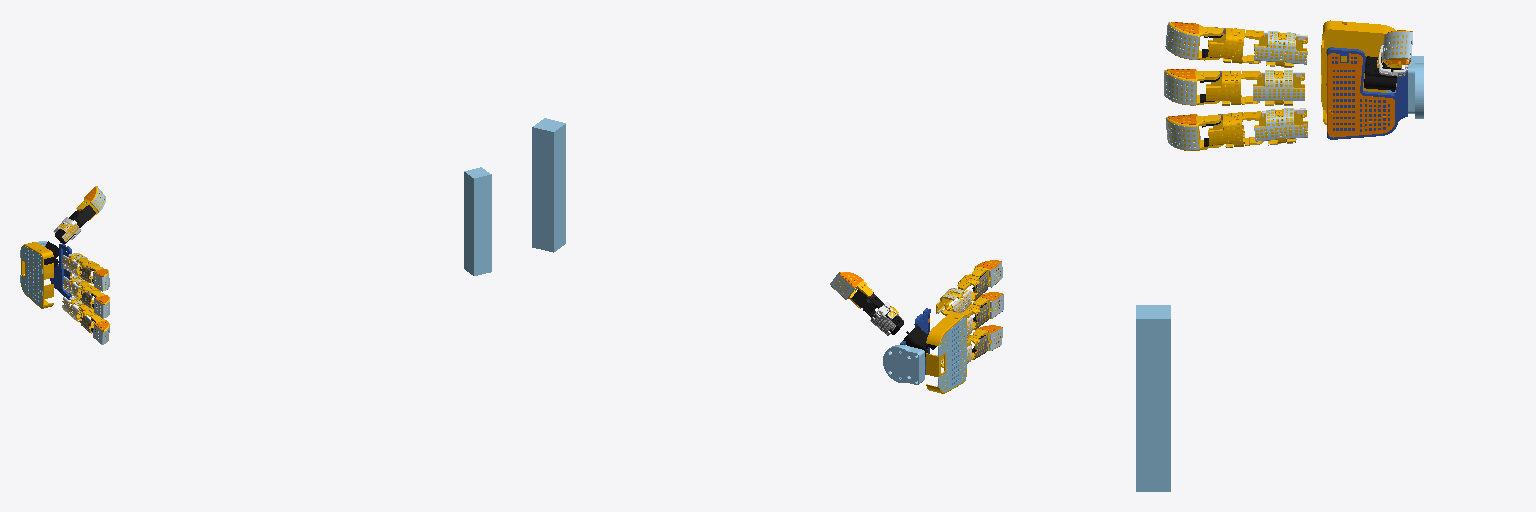
--- Facts derived from the render (not from the file) ---
Views: 3 orthographic renders of the robot side by side, from view 1: azimuth 30°, elevation 25°; view 2: azimuth 150°, elevation 25°; view 3: azimuth 270°, elevation 25°.
Robot: ur5e_2f85 — 79 links, 78 joints (22 revolute, 56 fixed); root link world; default pose: joints at zero except 1 at the middle of their limits (joint_12_0 = 0.96).
Visible links, largest first — view 1: cubic_object_link, boh, boh_bracket; view 2: cubic_object_link, boh, ur_bracket, boh_bracket; view 3: cubic_object_link, palm_fpcb, boh_bracket, palm_bracket, ur_bracket, index_proximal_front_fpcb, pinky_proximal_front_fpcb, middle_proximal_front_fpcb, middle_medial_front_fpcb, index_medial_front_fpcb, pinky_medial_front_fpcb, link_12 (+7 smaller).
Boxes of the visible links, <box> form: cubic_object_link: <box>464,167,491,275</box>; boh: <box>20,246,42,306</box>; boh_bracket: <box>21,242,53,308</box>; cubic_object_link: <box>532,118,565,252</box>; boh: <box>938,317,966,391</box>; ur_bracket: <box>883,345,924,384</box>; boh_bracket: <box>926,312,966,393</box>; cubic_object_link: <box>1136,305,1170,491</box>; palm_fpcb: <box>1327,53,1394,137</box>; boh_bracket: <box>1321,20,1401,124</box>; palm_bracket: <box>1327,47,1407,139</box>; ur_bracket: <box>1408,56,1423,118</box>; index_proximal_front_fpcb: <box>1254,31,1307,64</box>; pinky_proximal_front_fpcb: <box>1254,108,1307,141</box>; middle_proximal_front_fpcb: <box>1253,70,1304,100</box>; middle_medial_front_fpcb: <box>1206,71,1260,100</box>; index_medial_front_fpcb: <box>1208,28,1263,58</box>; pinky_medial_front_fpcb: <box>1208,111,1261,145</box>; link_12: <box>1364,56,1396,91</box>.
Bounding box of the posed robot: 0.9109 × 0.3258 × 0.2344 m (x, y, z).
52 mesh visuals loaded from 37 distinct referenced files (24 binary STL, 1 ASCII STL); not drawn: 19 (reference not matched to a file when rendering).

robot.urdf — ur5e_2f85:
<?xml version="1.0" ?>
<!-- =================================================================================== -->
<!-- |    This document was autogenerated by xacro from [local-path]/Documents/BICI_Project/BICI_SENSORS_ROS/ROS_WS/robot_arm_ws/src/coro_workstations/coro_descriptions/urdf/workstations/ur5e_workstation.urdf.xacro | -->
<!-- |    EDITING THIS FILE BY HAND IS NOT RECOMMENDED                                 | -->
<!-- =================================================================================== -->
<robot name="ur5e_2f85">
    <!-- WORLD -->
    <link name="world" />
    <!-- Table -->
    <link name="table_base">
        <visual>
            <origin rpy="0 0 0" xyz="0 0 0" />
            <geometry>
                <mesh filename="package://coro_descriptions/meshes/small_vention_table.dae" />
            </geometry>
        </visual>
        <collision>
            <origin rpy="0 0 0" xyz="0 0 0" />
            <geometry>
                <mesh filename="package://coro_descriptions/meshes/small_vention_table.dae" />
            </geometry>
        </collision>
        <inertial>
            <origin rpy="0 0 0" xyz="0 0 0" />
            <mass value="20" />
            <inertia ixx="1" ixy="0" ixz="0" iyx="0" iyy="1" iyz="0" izx="0" izy="0" izz="1" />
        </inertial>
    </link>
    <!-- Robot mount -->
    <link name="robot_mount" />
    <joint name="robot_mount" type="fixed">
        <parent link="table_base" />
        <child link="robot_mount" />
        <origin rpy="0 0 3.1416" xyz="-0.0093 0.3375 0.99275" />
        <!-- Coordinates taken from a CAD assembly -->
    </joint>
    <joint name="table_to_world" type="fixed">
        <parent link="world" />
        <child link="table_base" />
        <origin rpy="0 0 0" xyz="0 0 0" />
    </joint>
    <!--
    Base UR robot series xacro macro.

    NOTE: this is NOT a URDF. It cannot directly be loaded by consumers
    expecting a flattened '.urdf' file. See the top-level '.xacro' for that
    (but note: that .xacro must still be processed by the xacro command).

    For use in '.launch' files: use one of the 'load_urX.launch' convenience
    launch files.

    This file models the base kinematic chain of a UR robot, which then gets
    parameterised by various configuration files to convert it into a UR3(e),
    UR5(e), UR10(e) or UR16e.

    NOTE: the default kinematic parameters (ie: link lengths, frame locations,
    offets, etc) do not correspond to any particular robot. They are defaults
    only. There WILL be non-zero offsets between the Forward Kinematics results
    in TF (ie: robot_state_publisher) and the values reported by the Teach
    Pendant.

    For accurate (and robot-specific) transforms, the 'kinematics_parameters_file'
    parameter MUST point to a .yaml file containing the appropriate values for
    the targetted robot.

    If using the UniversalRobots/Universal_Robots_ROS_Driver, follow the steps
    described in the readme of that repository to extract the kinematic
    calibration from the controller and generate the required .yaml file.

    Main author of the migration to yaml configs: Ludovic Delval.

    Contributors to previous versions (in no particular order):

     - Felix Messmer
     - Kelsey Hawkins
     - Wim Meeussen
     - Shaun Edwards
     - Nadia Hammoudeh Garcia
     - Dave Hershberger
     - G. vd. Hoorn
     - Philip Long
     - Dave Coleman
     - Miguel Prada
     - Mathias Luedtke
     - Marcel Schnirring
     - Felix von Drigalski
     - Felix Exner
     - Jimmy Da Silva
     - Ajit Krisshna N L
     - Muhammad Asif Rana
  -->
    <!--
    NOTE: the macro defined in this file is NOT part of the public API of this
          package. Users CANNOT rely on this file being available, or stored in
          this location. Nor can they rely on the existence of the macro.
  -->
    <transmission name="shoulder_pan_trans">
        <type>transmission_interface/SimpleTransmission</type>
        <joint name="shoulder_pan_joint">
            <hardwareInterface>hardware_interface/PositionJointInterface</hardwareInterface>
        </joint>
        <actuator name="shoulder_pan_motor">
            <mechanicalReduction>1</mechanicalReduction>
            <hardwareInterface>hardware_interface/EffortJointInterface</hardwareInterface>
        </actuator>
    </transmission>
    <transmission name="shoulder_lift_trans">
        <type>transmission_interface/SimpleTransmission</type>
        <joint name="shoulder_lift_joint">
            <hardwareInterface>hardware_interface/PositionJointInterface</hardwareInterface>
        </joint>
        <actuator name="shoulder_lift_motor">
            <mechanicalReduction>1</mechanicalReduction>
            <hardwareInterface>hardware_interface/EffortJointInterface</hardwareInterface>
        </actuator>
    </transmission>
    <transmission name="elbow_trans">
        <type>transmission_interface/SimpleTransmission</type>
        <joint name="elbow_joint">
            <hardwareInterface>hardware_interface/PositionJointInterface</hardwareInterface>
        </joint>
        <actuator name="elbow_motor">
            <mechanicalReduction>1</mechanicalReduction>
            <hardwareInterface>hardware_interface/EffortJointInterface</hardwareInterface>
        </actuator>
    </transmission>
    <transmission name="wrist_1_trans">
        <type>transmission_interface/SimpleTransmission</type>
        <joint name="wrist_1_joint">
            <hardwareInterface>hardware_interface/PositionJointInterface</hardwareInterface>
        </joint>
        <actuator name="wrist_1_motor">
            <mechanicalReduction>1</mechanicalReduction>
            <hardwareInterface>hardware_interface/EffortJointInterface</hardwareInterface>
        </actuator>
    </transmission>
    <transmission name="wrist_2_trans">
        <type>transmission_interface/SimpleTransmission</type>
        <joint name="wrist_2_joint">
            <hardwareInterface>hardware_interface/PositionJointInterface</hardwareInterface>
        </joint>
        <actuator name="wrist_2_motor">
            <mechanicalReduction>1</mechanicalReduction>
            <hardwareInterface>hardware_interface/EffortJointInterface</hardwareInterface>
        </actuator>
    </transmission>
    <transmission name="wrist_3_trans">
        <type>transmission_interface/SimpleTransmission</type>
        <joint name="wrist_3_joint">
            <hardwareInterface>hardware_interface/PositionJointInterface</hardwareInterface>
        </joint>
        <actuator name="wrist_3_motor">
            <mechanicalReduction>1</mechanicalReduction>
            <hardwareInterface>hardware_interface/EffortJointInterface</hardwareInterface>
        </actuator>
    </transmission>
    <!-- links: main serial chain -->
    <link name="base_link" />
    <link name="base_link_inertia">
        <visual>
            <origin rpy="0 0 3.141592653589793" xyz="0 0 0" />
            <geometry>
                <mesh filename="package://ur_description/meshes/ur5e/visual/base.dae" />
            </geometry>
            <material name="LightGrey">
                <color rgba="0.7 0.7 0.7 1.0" />
            </material>
        </visual>
        <collision>
            <origin rpy="0 0 3.141592653589793" xyz="0 0 0" />
            <geometry>
                <mesh filename="package://ur_description/meshes/ur5e/collision/base.stl" />
            </geometry>
        </collision>
        <inertial>
            <mass value="4.0" />
            <origin rpy="0 0 0" xyz="0 0 0" />
            <inertia ixx="0.00443333156" ixy="0.0" ixz="0.0" iyy="0.00443333156" iyz="0.0" izz="0.0072" />
        </inertial>
    </link>
    <link name="shoulder_link">
        <visual>
            <origin rpy="0 0 3.141592653589793" xyz="0 0 0" />
            <geometry>
                <mesh filename="package://ur_description/meshes/ur5e/visual/shoulder.dae" />
            </geometry>
            <material name="LightGrey">
                <color rgba="0.7 0.7 0.7 1.0" />
            </material>
        </visual>
        <collision>
            <origin rpy="0 0 3.141592653589793" xyz="0 0 0" />
            <geometry>
                <mesh filename="package://ur_description/meshes/ur5e/collision/shoulder.stl" />
            </geometry>
        </collision>
        <inertial>
            <mass value="3.7" />
            <origin rpy="0 0 0" xyz="0 0 0" />
            <inertia ixx="0.010267495893" ixy="0.0" ixz="0.0" iyy="0.010267495893" iyz="0.0" izz="0.00666" />
        </inertial>
    </link>
    <link name="upper_arm_link">
        <visual>
            <origin rpy="1.5707963267948966 0 -1.5707963267948966" xyz="0 0 0.138" />
            <geometry>
                <mesh filename="package://ur_description/meshes/ur5e/visual/upperarm.dae" />
            </geometry>
            <material name="LightGrey">
                <color rgba="0.7 0.7 0.7 1.0" />
            </material>
        </visual>
        <collision>
            <origin rpy="1.5707963267948966 0 -1.5707963267948966" xyz="0 0 0.138" />
            <geometry>
                <mesh filename="package://ur_description/meshes/ur5e/collision/upperarm.stl" />
            </geometry>
        </collision>
        <inertial>
            <mass value="8.393" />
            <origin rpy="0 1.5707963267948966 0" xyz="-0.2125 0.0 0.138" />
            <inertia ixx="0.1338857818623325" ixy="0.0" ixz="0.0" iyy="0.1338857818623325" iyz="0.0" izz="0.0151074" />
        </inertial>
    </link>
    <link name="forearm_link">
        <visual>
            <origin rpy="1.5707963267948966 0 -1.5707963267948966" xyz="0 0 0.007" />
            <geometry>
                <mesh filename="package://ur_description/meshes/ur5e/visual/forearm.dae" />
            </geometry>
            <material name="LightGrey">
                <color rgba="0.7 0.7 0.7 1.0" />
            </material>
        </visual>
        <collision>
            <origin rpy="1.5707963267948966 0 -1.5707963267948966" xyz="0 0 0.007" />
            <geometry>
                <mesh filename="package://ur_description/meshes/ur5e/collision/forearm.stl" />
            </geometry>
        </collision>
        <inertial>
            <mass value="2.275" />
            <origin rpy="0 1.5707963267948966 0" xyz="-0.1961 0.0 0.007" />
            <inertia ixx="0.031209355099586295" ixy="0.0" ixz="0.0" iyy="0.031209355099586295" iyz="0.0" izz="0.004095" />
        </inertial>
    </link>
    <link name="wrist_1_link">
        <visual>
            <!-- TODO: Move this to a parameter -->
            <origin rpy="1.5707963267948966 0 0" xyz="0 0 -0.127" />
            <geometry>
                <mesh filename="package://ur_description/meshes/ur5e/visual/wrist1.dae" />
            </geometry>
            <material name="LightGrey">
                <color rgba="0.7 0.7 0.7 1.0" />
            </material>
        </visual>
        <collision>
            <origin rpy="1.5707963267948966 0 0" xyz="0 0 -0.127" />
            <geometry>
                <mesh filename="package://ur_description/meshes/ur5e/collision/wrist1.stl" />
            </geometry>
        </collision>
        <inertial>
            <mass value="1.219" />
            <origin rpy="0 0 0" xyz="0 0 0" />
            <inertia ixx="0.0025598989760400002" ixy="0.0" ixz="0.0" iyy="0.0025598989760400002" iyz="0.0" izz="0.0021942" />
        </inertial>
    </link>
    <link name="wrist_2_link">
        <visual>
            <origin rpy="0 0 0" xyz="0 0 -0.0997" />
            <geometry>
                <mesh filename="package://ur_description/meshes/ur5e/visual/wrist2.dae" />
            </geometry>
            <material name="LightGrey">
                <color rgba="0.7 0.7 0.7 1.0" />
            </material>
        </visual>
        <collision>
            <origin rpy="0 0 0" xyz="0 0 -0.0997" />
            <geometry>
                <mesh filename="package://ur_description/meshes/ur5e/collision/wrist2.stl" />
            </geometry>
        </collision>
        <inertial>
            <mass value="1.219" />
            <origin rpy="0 0 0" xyz="0 0 0" />
            <inertia ixx="0.0025598989760400002" ixy="0.0" ixz="0.0" iyy="0.0025598989760400002" iyz="0.0" izz="0.0021942" />
        </inertial>
    </link>
    <link name="wrist_3_link">
        <visual>
            <origin rpy="1.5707963267948966 0 0" xyz="0 0 -0.0989" />
            <geometry>
                <mesh filename="package://ur_description/meshes/ur5e/visual/wrist3.dae" />
            </geometry>
            <material name="LightGrey">
                <color rgba="0.7 0.7 0.7 1.0" />
            </material>
        </visual>
        <collision>
            <origin rpy="1.5707963267948966 0 0" xyz="0 0 -0.0989" />
            <geometry>
                <mesh filename="package://ur_description/meshes/ur5e/collision/wrist3.stl" />
            </geometry>
        </collision>
        <inertial>
            <mass value="0.1879" />
            <origin rpy="0 0 0" xyz="0.0 0.0 -0.0229" />
            <inertia ixx="9.890410052167731e-05" ixy="0.0" ixz="0.0" iyy="9.890410052167731e-05" iyz="0.0" izz="0.0001321171875" />
        </inertial>
    </link>
    <!-- joints: main serial chain -->
    <joint name="base_link-base_link_inertia" type="fixed">
        <parent link="base_link" />
        <child link="base_link_inertia" />
        <!-- 'base_link' is REP-103 aligned (so X+ forward), while the internal
           frames of the robot/controller have X+ pointing backwards.
           Use the joint between 'base_link' and 'base_link_inertia' (a dummy
           link/frame) to introduce the necessary rotation over Z (of pi rad).
      -->
        <origin rpy="0 0 3.141592653589793" xyz="0 0 0" />
    </joint>
    <joint name="shoulder_pan_joint" type="revolute">
        <parent link="base_link_inertia" />
        <child link="shoulder_link" />
        <origin rpy="0 0 0" xyz="0 0 0.1625" />
        <axis xyz="0 0 1" />
        <limit effort="150.0" lower="-6.283185307179586" upper="6.283185307179586" velocity="3.141592653589793" />
        <dynamics damping="0" friction="0" />
    </joint>
    <joint name="shoulder_lift_joint" type="revolute">
        <parent link="shoulder_link" />
        <child link="upper_arm_link" />
        <origin rpy="1.570796327 0 0" xyz="0 0 0" />
        <axis xyz="0 0 1" />
        <limit effort="150.0" lower="-6.283185307179586" upper="6.283185307179586" velocity="3.141592653589793" />
        <dynamics damping="0" friction="0" />
    </joint>
    <joint name="elbow_joint" type="revolute">
        <parent link="upper_arm_link" />
        <child link="forearm_link" />
        <origin rpy="0 0 0" xyz="-0.425 0 0" />
        <axis xyz="0 0 1" />
        <limit effort="150.0" lower="-3.141592653589793" upper="3.141592653589793" velocity="3.141592653589793" />
        <dynamics damping="0" friction="0" />
    </joint>
    <joint name="wrist_1_joint" type="revolute">
        <parent link="forearm_link" />
        <child link="wrist_1_link" />
        <origin rpy="0 0 0" xyz="-0.3922 0 0.1333" />
        <axis xyz="0 0 1" />
        <limit effort="28.0" lower="-6.283185307179586" upper="6.283185307179586" velocity="3.141592653589793" />
        <dynamics damping="0" friction="0" />
    </joint>
    <joint name="wrist_2_joint" type="revolute">
        <parent link="wrist_1_link" />
        <child link="wrist_2_link" />
        <origin rpy="1.570796327 0 0" xyz="0 -0.0997 -2.044881182297852e-11" />
        <axis xyz="0 0 1" />
        <limit effort="28.0" lower="-6.283185307179586" upper="6.283185307179586" velocity="3.141592653589793" />
        <dynamics damping="0" friction="0" />
    </joint>
    <joint name="wrist_3_joint" type="revolute">
        <parent link="wrist_2_link" />
        <child link="wrist_3_link" />
        <origin rpy="1.570796326589793 4.71238898018 3.141592653589793" xyz="0 0.0996 -2.042830148012698e-11" />
        <axis xyz="0 0 1" />
        <limit effort="28.0" lower="-6.283185307179586" upper="6.283185307179586" velocity="3.141592653589793" />
        <dynamics damping="0" friction="0" />
    </joint>
    <!-- ROS-Industrial 'base' frame: base_link to UR 'Base' Coordinates transform -->
    <link name="base" />
    <joint name="base_link-base_fixed_joint" type="fixed">
        <!-- Note the rotation over Z of pi radians: as base_link is REP-103
           aligned (ie: has X+ forward, Y+ left and Z+ up), this is needed
           to correctly align 'base' with the 'Base' coordinate system of
           the UR controller.
      -->
        <origin rpy="0 0 3.141592653589793" xyz="0 0 0" />
        <parent link="base_link" />
        <child link="base" />
    </joint>
    <!-- ROS-Industrial 'flange' frame: attachment point for EEF models -->
    <link name="flange" />
    <joint name="wrist_3-flange" type="fixed">
        <parent link="wrist_3_link" />
        <child link="flange" />
        <origin rpy="0 -1.5707963267948966 -1.5707963267948966" xyz="0 0 0" />
    </joint>
    <!-- ROS-Industrial 'tool0' frame: all-zeros tool frame -->
    <link name="tool0" />
    <joint name="flange-tool0" type="fixed">
        <!-- default toolframe: X+ left, Y+ up, Z+ front -->
        <origin rpy="1.5707963267948966 0 1.5707963267948966" xyz="0 0 0" />
        <parent link="flange" />
        <child link="tool0" />
    </joint>
    <joint name="robot_to_table" type="fixed">
        <parent link="robot_mount" />
        <child link="base_link" />
        <origin rpy="0 0 0" xyz="0 0 0" />
    </joint>
    <link name="ur_bracket">
        <visual>
            <origin rpy="0 -0 0" xyz="0 0 0" />
            <geometry>
                <mesh filename="package://coro_descriptions/meshes/ur_bracket.stl" />
            </geometry>
            <material name="ur_bracket_material">
                <color rgba="0.615686 0.811765 0.929412 1.0" />
            </material>
        </visual>
        <collision>
            <origin rpy="0 -0 0" xyz="0 0 0" />
            <geometry>
                <mesh filename="package://coro_descriptions/meshes/ur_bracket.stl" />
            </geometry>
            <material name="ur_bracket_material">
                <color rgba="0.615686 0.811765 0.929412 1.0" />
            </material>
        </collision>
        <inertial>
            <origin rpy="0 0 0" xyz="0.0271498 0.0180673 -0.00967187" />
            <mass value="0.05307" />
            <inertia ixx="1.71151e-05" ixy="0" ixz="0" iyy="1.50513e-05" iyz="1.25799e-06" izz="2.94394e-05" />
        </inertial>
    </link>
    <!-- Mount the coupling to the robot side -->
    <joint name="coupling_robot_fix" type="fixed">
        <origin rpy="0 0 0" xyz="0 0 0.01" />
        <parent link="tool0" />
        <child link="ur_bracket" />
    </joint>
    <!-- Mount the gripper to the coupling -->
    <link name="coupling_gripper_fix" />
    <joint name="coupling_to_gripper" type="fixed">
        <parent link="ur_bracket" />
        <child link="coupling_gripper_fix" />
        <origin rpy="0 0 0" xyz="0 0 0" />
    </joint>
    <!-- GRIPPER -->
    <joint name="gripper_base_joint" type="fixed">
        <origin rpy="0 0 0" xyz="0 -0.041 0.105" />
        <parent link="coupling_gripper_fix" />
        <child link="palm_link" />
    </joint>
    <link name="palm_link">
        <visual>
            <origin rpy="3.14159 -0 0" xyz="0 0.034 -0.002" />
            <geometry>
                <mesh filename="package://allegro_hand_description/meshes/g_r2.stl" />
            </geometry>
            <material name="g_r2_material">
                <color rgba="0.2 0.2 0.2 1.0" />
            </material>
        </visual>
        <collision>
            <origin rpy="3.14159 -0 0" xyz="0 0.034 -0.002" />
            <geometry>
                <mesh filename="package://allegro_hand_description/meshes/g_r2.stl" />
            </geometry>
            <material name="g_r2_material">
                <color rgba="0.2 0.2 0.2 1.0" />
            </material>
        </collision>
        <inertial>
            <origin rpy="0 0 0" xyz="-0.00043535 0.0160404 -0.0404815" />
            <mass value="0.404445" />
            <inertia ixx="0.000491371" ixy="-9.01723e-06" ixz="1.17974e-05" iyy="0.000773265" iyz="-5.50867e-06" izz="0.000547843" />
        </inertial>
    </link>
    <link name="link_0">
        <visual>
            <origin rpy="1.5708 6.16298e-33 -5.3926e-33" xyz="0 6.93889e-18 -0.0152" />
            <geometry>
                <mesh filename="package://allegro_hand_description/meshes/extended_finger_base.stl" />
            </geometry>
            <material name="extended_finger_base_material">
                <color rgba="0.647059 0.647059 0.647059 1.0" />
            </material>
        </visual>
        <collision>
            <origin rpy="1.5708 6.16298e-33 -5.3926e-33" xyz="0 6.93889e-18 -0.0152" />
            <geometry>
                <mesh filename="package://allegro_hand_description/meshes/extended_finger_base.stl" />
            </geometry>
            <material name="extended_finger_base_material">
                <color rgba="0.647059 0.647059 0.647059 1.0" />
            </material>
        </collision>
        <inertial>
            <origin rpy="0 0 0" xyz="-0.00041342 0.000666149 0.00960564" />
            <mass value="0.0136672" />
            <inertia ixx="2.13441e-06" ixy="5.86704e-10" ixz="-7.9563e-08" iyy="1.24411e-06" iyz="-6.13056e-08" izz="1.671e-06" />
        </inertial>
    </link>
    <link name="link_1">
        <visual>
            <origin rpy="4.1618e-29 1.48353 -3.14159" xyz="-0.0182688 0 -0.0317805" />
            <geometry>
                <mesh filename="package://allegro_hand_description/meshes/p2_r6.stl" />
            </geometry>
            <material name="p2_r6_material">
                <color rgba="0.129412 0.129412 0.129412 1.0" />
            </material>
        </visual>
        <collision>
            <origin rpy="4.1618e-29 1.48353 -3.14159" xyz="-0.0182688 0 -0.0317805" />
            <geometry>
                <mesh filename="package://allegro_hand_description/meshes/p2_r6.stl" />
            </geometry>
            <material name="p2_r6_material">
                <color rgba="0.129412 0.129412 0.129412 1.0" />
            </material>
        </collision>
        <inertial>
            <origin rpy="0 0 0" xyz="0.027 9.54536e-05 0.0124409" />
            <mass value="0.0418346" />
            <inertia ixx="4.00114e-06" ixy="-1.81985e-08" ixz="-4.42841e-15" iyy="1.97927e-05" iyz="1.59578e-08" izz="1.88563e-05" />
        </inertial>
    </link>
    <link name="link_2">
        <visual>
            <origin rpy="-4.37532e-31 1.48353 -2.11032e-30" xyz="0.0722688 -3.46945e-17 -0.0317805" />
            <geometry>
                <mesh filename="package://allegro_hand_description/meshes/extended_fingertop.stl" />
            </geometry>
            <material name="extended_fingertop_material">
                <color rgba="0.647059 0.647059 0.647059 1.0" />
            </material>
        </visual>
        <collision>
            <origin rpy="-4.37532e-31 1.48353 -2.11032e-30" xyz="0.0722688 -3.46945e-17 -0.0317805" />
            <geometry>
                <mesh filename="package://allegro_hand_description/meshes/extended_fingertop.stl" />
            </geometry>
            <material name="extended_fingertop_material">
                <color rgba="0.647059 0.647059 0.647059 1.0" />
            </material>
        </collision>
        <inertial>
            <origin rpy="0 0 0" xyz="-0.0294592 -0.000104104 0.0123435" />
            <mass value="0.0318021" />
            <inertia ixx="3.48619e-06" ixy="1.20808e-07" ixz="6.2918e-07" iyy="8.82437e-06" iyz="5.78644e-09" izz="7.34771e-06" />
        </inertial>
    </link>
    <link name="link_3">
        <visual>
            <origin rpy="-3.14159 -2.46519e-32 -1.5708" xyz="0.1253 -5.55112e-17 0.0118" />
            <geometry>
                <mesh filename="package://allegro_hand_description/meshes/p4_r.stl" />
            </geometry>
            <material name="p4_r_material">
                <color rgba="0.129412 0.129412 0.129412 1.0" />
            </material>
        </visual>
        <collision>
            <origin rpy="-3.14159 -2.46519e-32 -1.5708" xyz="0.1253 -5.55112e-17 0.0118" />
            <geometry>
                <mesh filename="package://allegro_hand_description/meshes/p4_r.stl" />
            </geometry>
            <material name="p4_r_material">
                <color rgba="0.129412 0.129412 0.129412 1.0" />
            </material>
        </collision>
        <inertial>
            <origin rpy="0 0 0" xyz="-0.0100051 0.000639363 0.0123057" />
            <mass value="0.0088374" />
            <inertia ixx="1.08072e-06" ixy="-4.65695e-08" ixz="-3.42321e-08" iyy="1.11236e-06" iyz="-8.85024e-10" izz="5.61586e-07" />
        </inertial>
    </link>
    <link name="ift_bracket">
        <visual>
            <origin rpy="-3.14159 -4.59709e-18 -1.08476e-31" xyz="-0.1139 -0.004 0.0135" />
            <geometry>
                <mesh filename="package://allegro_hand_description/meshes/distal_pcbbase.stl" />
            </geometry>
            <material name="distal_pcbbase_material">
                <color rgba="1 0.756863 0.054902 1.0" />
            </material>
        </visual>
        <collision>
            <origin rpy="-3.14159 -4.59709e-18 -1.08476e-31" xyz="-0.1139 -0.004 0.0135" />
            <geometry>
                <mesh filename="package://allegro_hand_description/meshes/distal_pcbbase.stl" />
            </geometry>
            <material name="distal_pcbbase_material">
                <color rgba="1 0.756863 0.054902 1.0" />
            </material>
        </collision>
        <inertial>
            <origin rpy="0 0 0" xyz="0.0170719 -0.00112911 0.0135244" />
            <mass value="0.0155109" />
            <inertia ixx="3.339e-06" ixy="-4.60426e-07" ixz="1.73449e-08" iyy="6.13257e-06" iyz="-6.39964e-10" izz="4.49513e-06" />
        </inertial>
    </link>
    <link name="index_fingertip_main_fpcb">
        <visual>
            <origin rpy="-3.14159 -1.01561e-17 -5.74754e-32" xyz="-0.12166 0.01366 6.93889e-18" />
            <geometry>
                <mesh filename="package://allegro_hand_description/meshes/distal_fpcb_1.stl" />
            </geometry>
            <material name="distal_fpcb_1_material">
                <color rgba="0.768627 0.886275 0.952941 1.0" />
            </material>
        </visual>
        <collision>
            <origin rpy="-3.14159 -1.01561e-17 -5.74754e-32" xyz="-0.12166 0.01366 6.93889e-18" />
            <geometry>
                <mesh filename="package://allegro_hand_description/meshes/distal_fpcb_1.stl" />
            </geometry>
            <material name="distal_fpcb_1_material">
                <color rgba="0.768627 0.886275 0.952941 1.0" />
            </material>
        </collision>
        <inertial>
            <origin rpy="0 0 0" xyz="0.0183062 0.0208616 2.89858e-05" />
            <mass value="0.00142203" />
            <inertia ixx="3.14637e-07" ixy="-2.70173e-08" ixz="2.90739e-11" iyy="3.18951e-07" iyz="-3.25215e-10" izz="4.09623e-07" />
        </inertial>
    </link>
    <joint name="joint_index_fingertip_main_fpcb" type="fixed">
        <origin rpy="3.95134e-15 -6.07352e-15 -3.889e-30" xyz="0.00776046 -0.01766 0.0135" />
        <parent link="ift_bracket" />
        <child link="index_fingertip_main_fpcb" />
        <axis xyz="0 0 1" />
        <limit effort="1" velocity="20" />
        <joint_properties friction="0.0" />
    </joint>
    <link name="index_fingertip_side_fpcb">
        <visual>
            <origin rpy="-1.32916e-32 6.97161e-18 -4.03248e-31" xyz="-0.153816 0.0136001 -0.0162593" />
            <geometry>
                <mesh filename="package://allegro_hand_description/meshes/distal_fpcb_2.stl" />
            </geometry>
            <material name="distal_fpcb_2_material">
                <color rgba="0.972549 0.529412 0.00392157 1.0" />
            </material>
        </visual>
        <collision>
            <origin rpy="-1.32916e-32 6.97161e-18 -4.03248e-31" xyz="-0.153816 0.0136001 -0.0162593" />
            <geometry>
                <mesh filename="package://allegro_hand_description/meshes/distal_fpcb_2.stl" />
            </geometry>
            <material name="distal_fpcb_2_material">
                <color rgba="0.972549 0.529412 0.00392157 1.0" />
            </material>
        </collision>
        <inertial>
            <origin rpy="0 0 0" xyz="-0.0175916 0.00317983 -0.0164175" />
            <mass value="0.00128609" />
            <inertia ixx="3.5341e-07" ixy="2.54188e-08" ixz="-2.1826e-09" iyy="3.67946e-07" iyz="1.2158e-09" izz="1.99436e-07" />
        </inertial>
    </link>
    <joint name="joint_index_fingertip_side_fpcb" type="fixed">
        <origin rpy="-3.14159 1.29682e-17 1.10568e-30" xyz="0.0399163 0.0096 -0.00275858" />
        <parent link="ift_bracket" />
        <child link="index_fingertip_side_fpcb" />
        <axis xyz="0 0 1" />
        <limit effort="1" velocity="20" />
        <joint_properties friction="0.0" />
    </joint>
    <joint name="joint_index_fingertip_bracket" type="fixed">
        <origin rpy="3.14159 -5.14611e-15 3.14159" xyz="-0.0135 0.004 0.0254" />
        <parent link="link_3" />
        <child link="ift_bracket" />
        <axis xyz="0 0 1" />
        <limit effort="1" velocity="20" />
        <joint_properties friction="0.0" />
    </joint>
    <joint name="joint_3_0" type="revolute">
        <origin rpy="-4.33522e-16 1.57792e-15 -7.74196e-17" xyz="-0.04615 2.77556e-17 0.0001" />
        <parent link="link_2" />
        <child link="link_3" />
        <axis xyz="0 0 1" />
        <limit effort="15" lower="0" upper="1.4" velocity="20" />
        <dynamics damping="1" friction="0.5" />
        <gazebo>
            <implicitSpringDamper>true</implicitSpringDamper>
        </gazebo>
    </joint>
    <!-- *************************************Transmission************************************** -->
    <transmission name="trans_3_0">
        <type>transmission_interface/SimpleTransmission</type>
        <joint name="joint_3_0">
            <hardwareInterface>hardware_interface/EffortJointInterface</hardwareInterface>
        </joint>
        <actuator name="motor_3_0">
            <mechanicalReduction>1</mechanicalReduction>
            <hardwareInterface>hardware_interface/EffortJointInterface</hardwareInterface>
        </actuator>
    </transmission>
    <!-- *************************************Transmission************************************** -->
    <link name="imf_bracket">
        <visual>
            <origin rpy="1.02267e-31 1.4662e-17 -1.62518e-30" xyz="-0.0755 -0.004 0.014" />
            <geometry>
                <mesh filename="package://allegro_hand_description/meshes/medial_front.stl" />
            </geometry>
            <material name="medial_front_material">
                <color rgba="1 0.756863 0.054902 1.0" />
            </material>
        </visual>
        <collision>
            <origin rpy="1.02267e-31 1.4662e-17 -1.62518e-30" xyz="-0.0755 -0.004 0.014" />
            <geometry>
                <mesh filename="package://allegro_hand_description/meshes/medial_front.stl" />
            </geometry>
            <material name="medial_front_material">
                <color rgba="1 0.756863 0.054902 1.0" />
            </material>
        </collision>
        <inertial>
            <origin rpy="0 0 0" xyz="0.00469281 0.00336791 0.0198072" />
            <mass value="0.00473232" />
            <inertia ixx="8.28869e-07" ixy="-2.96994e-07" ixz="2.53991e-07" iyy="1.55762e-06" iyz="2.23567e-07" izz="1.28629e-06" />
        </inertial>
    </link>
    <link name="index_medial_front_fpcb">
        <visual>
            <origin rpy="-1.5708 -1.5708 0" xyz="-0.0129 0.0096 -0.1092" />
            <geometry>
                <mesh filename="package://allegro_hand_description/meshes/medial_front_fpcb.stl" />
            </geometry>
            <material name="medial_front_fpcb_material">
                <color rgba="0.980392 0.713725 0.00392157 1.0" />
            </material>
        </visual>
        <collision>
            <origin rpy="-1.5708 -1.5708 0" xyz="-0.0129 0.0096 -0.1092" />
            <geometry>
                <mesh filename="package://allegro_hand_description/meshes/medial_front_fpcb.stl" />
            </geometry>
            <material name="medial_front_fpcb_material">
                <color rgba="0.980392 0.713725 0.00392157 1.0" />
            </material>
        </collision>
        <inertial>
            <origin rpy="0 0 0" xyz="-0.00409182 0.0164946 -0.0268705" />
            <mass value="0.00086951" />
            <inertia ixx="2.73483e-07" ixy="9.10299e-08" ixz="5.0825e-08" iyy="1.4757e-07" iyz="-6.87648e-08" izz="3.07195e-07" />
        </inertial>
    </link>
    <joint name="joint_index_medial_front_fpcb" type="fixed">
        <origin rpy="1.5708 -4.84955e-31 1.5708" xyz="0.0337 0.0089 0.0044" />
        <parent link="imf_bracket" />
        <child link="index_medial_front_fpcb" />
        <axis xyz="0 0 1" />
        <limit effort="1" velocity="20" />
        <joint_properties friction="0.0" />
    </joint>
    <joint name="joint_index_medial_front_bracket" type="fixed">
        <origin rpy="6.04764e-19 8.37023e-19 3.14159" xyz="-0.0215 -0.004 -0.0021" />
        <parent link="link_2" />
        <child link="imf_bracket" />
        <axis xyz="0 0 1" />
        <limit effort="1" velocity="20" />
        <joint_properties friction="0.0" />
    </joint>
    <link name="imb_bracket">
        <visual>
            <origin rpy="-3.14159 1.05207e-17 -8.74306e-31" xyz="-0.0755 -0.004 0.014" />
            <geometry>
                <mesh filename="package://allegro_hand_description/meshes/medial_back.stl" />
            </geometry>
            <material name="medial_back_material">
                <color rgba="1 0.756863 0.054902 1.0" />
            </material>
        </visual>
        <collision>
            <origin rpy="-3.14159 1.05207e-17 -8.74306e-31" xyz="-0.0755 -0.004 0.014" />
            <geometry>
                <mesh filename="package://allegro_hand_description/meshes/medial_back.stl" />
            </geometry>
            <material name="medial_back_material">
                <color rgba="1 0.756863 0.054902 1.0" />
            </material>
        </collision>
        <inertial>
            <origin rpy="0 0 0" xyz="0.0050369 0.00536951 0.0198823" />
            <mass value="0.00531302" />
            <inertia ixx="1.01036e-06" ixy="-2.70353e-07" ixz="2.64599e-07" iyy="1.7622e-06" iyz="2.24575e-07" izz="1.4134e-06" />
        </inertial>
    </link>
    <link name="index_medial_back_fpcb">
        <visual>
            <origin rpy="-1.5708 -1.5708 0" xyz="0.0145 -0.014 -0.1092" />
            <geometry>
                <mesh filename="package://allegro_hand_description/meshes/medial_back_fpcb.stl" />
            </geometry>
            <material name="medial_back_fpcb_material">
                <color rgba="0.498039 0.498039 0.498039 1.0" />
            </material>
        </visual>
        <collision>
            <origin rpy="-1.5708 -1.5708 0" xyz="0.0145 -0.014 -0.1092" />
            <geometry>
                <mesh filename="package://allegro_hand_description/meshes/medial_back_fpcb.stl" />
            </geometry>
            <material name="medial_back_fpcb_material">
                <color rgba="0.498039 0.498039 0.498039 1.0" />
            </material>
        </collision>
        <inertial>
            <origin rpy="0 0 0" xyz="0.0031423 -0.0198367 -0.0257098" />
            <mass value="0.000991462" />
            <inertia ixx="2.93113e-07" ixy="-9.38799e-08" ixz="5.77704e-08" iyy="1.96504e-07" iyz="6.0309e-08" izz="3.52075e-07" />
        </inertial>
    </link>
    <joint name="joint_index_medial_back_fpcb" type="fixed">
        <origin rpy="-1.5708 4.62281e-16 -1.5708" xyz="0.0337 0.0105 -1.73472e-16" />
        <parent link="imb_bracket" />
        <child link="index_medial_back_fpcb" />
        <axis xyz="0 0 1" />
        <limit effort="1" velocity="20" />
        <joint_properties friction="0.0" />
    </joint>
    <joint name="joint_index_medial_back_bracket" type="fixed">
        <origin rpy="3.14159 4.76628e-16 -3.14159" xyz="-0.0215 0.004 0.0259" />
        <parent link="link_2" />
        <child link="imb_bracket" />
        <axis xyz="0 0 1" />
        <limit effort="1" velocity="20" />
        <joint_properties friction="0.0" />
    </joint>
    <joint name="joint_2_0" type="revolute">
        <origin rpy="-1.93545e-14 4.22599e-15 -3.14159" xyz="0.054 2.28983e-16 7.63278e-17" />
        <parent link="link_1" />
        <child link="link_2" />
        <axis xyz="0 0 1" />
        <limit effort="15" lower="0" upper="1.5" velocity="20" />
        <dynamics damping="1" friction="0.5" />
        <gazebo>
            <implicitSpringDamper>true</implicitSpringDamper>
        </gazebo>
    </joint>
    <!-- *************************************Transmission************************************** -->
    <transmission name="trans_2_0">
        <type>transmission_interface/SimpleTransmission</type>
        <joint name="joint_2_0">
            <hardwareInterface>hardware_interface/EffortJointInterface</hardwareInterface>
        </joint>
        <actuator name="motor_2_0">
            <mechanicalReduction>1</mechanicalReduction>
            <hardwareInterface>hardware_interface/EffortJointInterface</hardwareInterface>
        </actuator>
    </transmission>
    <!-- *************************************Transmission************************************** -->
    <link name="ipb_bracket">
        <visual>
            <origin rpy="-3.14159 -1.02743e-17 -5.1406e-31" xyz="-0.0249 -0.0037 0.014" />
            <geometry>
                <mesh filename="package://allegro_hand_description/meshes/proximal_back.stl" />
            </geometry>
            <material name="proximal_back_material">
                <color rgba="1 0.756863 0.054902 1.0" />
            </material>
        </visual>
        <collision>
            <origin rpy="-3.14159 -1.02743e-17 -5.1406e-31" xyz="-0.0249 -0.0037 0.014" />
            <geometry>
                <mesh filename="package://allegro_hand_description/meshes/proximal_back.stl" />
            </geometry>
            <material name="proximal_back_material">
                <color rgba="1 0.756863 0.054902 1.0" />
            </material>
        </collision>
        <inertial>
            <origin rpy="0 0 0" xyz="0.00190421 0.00603324 0.0192417" />
            <mass value="0.00681742" />
            <inertia ixx="1.33469e-06" ixy="-1.25087e-08" ixz="-1.65721e-09" iyy="2.12223e-06" iyz="3.02232e-07" izz="1.86525e-06" />
        </inertial>
    </link>
    <link name="index_proximal_back_fpcb">
        <visual>
            <origin rpy="-1.5708 4.10881e-31 -1.43049e-17" xyz="0.0028 -0.0131 -0.0136" />
            <geometry>
                <mesh filename="package://allegro_hand_description/meshes/proximal_back_fpcb.stl" />
            </geometry>
            <material name="proximal_back_fpcb_material">
                <color rgba="0.917647 0.917647 0.917647 1.0" />
            </material>
        </visual>
        <collision>
            <origin rpy="-1.5708 4.10881e-31 -1.43049e-17" xyz="0.0028 -0.0131 -0.0136" />
            <geometry>
                <mesh filename="package://allegro_hand_description/meshes/proximal_back_fpcb.stl" />
            </geometry>
            <material name="proximal_back_fpcb_material">
                <color rgba="0.917647 0.917647 0.917647 1.0" />
            </material>
        </collision>
        <inertial>
            <origin rpy="0 0 0" xyz="0.0298338 -0.0157289 -0.000514151" />
            <mass value="0.00110296" />
            <inertia ixx="2.17583e-07" ixy="-7.11341e-10" ixz="-5.50926e-10" iyy="3.62763e-07" iyz="-5.1761e-08" izz="4.40838e-07" />
        </inertial>
    </link>
    <joint name="joint_index_proximal_back_fpcb" type="fixed">
        <origin rpy="-1.5708 -1.40936e-17 -4.33377e-16" xyz="-0.0277 0.0099 0.0009" />
        <parent link="ipb_bracket" />
        <child link="index_proximal_back_fpcb" />
        <axis xyz="0 0 1" />
        <limit effort="1" velocity="20" />
        <joint_properties friction="0.0" />
    </joint>
    <joint name="joint_index_proximal_back_bracket" type="fixed">
        <origin rpy="-3.14159 -4.95527e-15 -2.49458e-28" xyz="0.0249 -0.0037 0.0253" />
        <parent link="link_1" />
        <child link="ipb_bracket" />
        <axis xyz="0 0 1" />
        <limit effort="1" velocity="20" />
        <joint_properties friction="0.0" />
    </joint>
    <link name="ipf_bracket">
        <visual>
            <origin rpy="3.99065e-30 -1.09742e-19 -6.90794e-32" xyz="-0.0249 -0.0077 0.014" />
            <geometry>
                <mesh filename="package://allegro_hand_description/meshes/proximal_front.stl" />
            </geometry>
            <material name="proximal_front_material">
                <color rgba="1 0.756863 0.054902 1.0" />
            </material>
        </visual>
        <collision>
            <origin rpy="3.99065e-30 -1.09742e-19 -6.90794e-32" xyz="-0.0249 -0.0077 0.014" />
            <geometry>
                <mesh filename="package://allegro_hand_description/meshes/proximal_front.stl" />
            </geometry>
            <material name="proximal_front_material">
                <color rgba="1 0.756863 0.054902 1.0" />
            </material>
        </collision>
        <inertial>
            <origin rpy="0 0 0" xyz="0.00266438 0.00143857 0.0191449" />
            <mass value="0.00549452" />
            <inertia ixx="8.30997e-07" ixy="-1.44805e-08" ixz="8.87855e-09" iyy="1.59352e-06" iyz="2.4142e-07" izz="1.37197e-06" />
        </inertial>
    </link>
    <link name="index_proximal_front_fpcb">
        <visual>
            <origin rpy="-3.57712e-32 1.64408e-17 1.1487e-31" xyz="-0.0568 -0.013652 0.0096" />
            <geometry>
                <mesh filename="package://allegro_hand_description/meshes/proximal_frontfpcb.stl" />
            </geometry>
            <material name="proximal_frontfpcb_material">
                <color rgba="0.768627 0.886275 0.952941 1.0" />
            </material>
        </visual>
        <collision>
            <origin rpy="-3.57712e-32 1.64408e-17 1.1487e-31" xyz="-0.0568 -0.013652 0.0096" />
            <geometry>
                <mesh filename="package://allegro_hand_description/meshes/proximal_frontfpcb.stl" />
            </geometry>
            <material name="proximal_frontfpcb_material">
                <color rgba="0.768627 0.886275 0.952941 1.0" />
            </material>
        </collision>
        <inertial>
            <origin rpy="0 0 0" xyz="-0.0293893 -0.00228345 0.0126321" />
            <mass value="0.000871809" />
            <inertia ixx="1.32851e-07" ixy="-1.29621e-09" ixz="-1.28414e-09" iyy="3.08668e-07" iyz="3.73193e-08" izz="2.63246e-07" />
        </inertial>
    </link>
    <joint name="joint_index_proximal_front_fpcb" type="fixed">
        <origin rpy="1.69568e-14 4.09448e-18 3.98238e-32" xyz="0.0319 0.00595201 0.0044" />
        <parent link="ipf_bracket" />
        <child link="index_proximal_front_fpcb" />
        <axis xyz="0 0 1" />
        <limit effort="1" velocity="20" />
        <joint_properties friction="0.0" />
    </joint>
    <joint name="joint_index_proximal_front_bracket" type="fixed">
        <origin rpy="1.74055e-15 -7.22547e-16 -8.65583e-16" xyz="0.0249 0.0077 -0.0017" />
        <parent link="link_1" />
        <child link="ipf_bracket" />
        <axis xyz="0 0 1" />
        <limit effort="1" velocity="20" />
        <joint_properties friction="0.0" />
    </joint>
    <joint name="joint_1_0" type="revolute">
        <origin rpy="-1.5708 -1.5708 0" xyz="6.93889e-18 -0.0119 0.02545" />
        <parent link="link_0" />
        <child link="link_1" />
        <axis xyz="0 0 1" />
        <limit effort="15" lower="0" upper="1.65" velocity="20" />
        <dynamics damping="1" friction="0.5" />
        <gazebo>
            <implicitSpringDamper>true</implicitSpringDamper>
        </gazebo>
    </joint>
    <!-- *************************************Transmission************************************** -->
    <transmission name="trans_1_0">
        <type>transmission_interface/SimpleTransmission</type>
        <joint name="joint_1_0">
            <hardwareInterface>hardware_interface/EffortJointInterface</hardwareInterface>
        </joint>
        <actuator name="motor_1_0">
            <mechanicalReduction>1</mechanicalReduction>
            <hardwareInterface>hardware_interface/EffortJointInterface</hardwareInterface>
        </actuator>
    </transmission>
    <!-- *************************************Transmission************************************** -->
    <joint name="joint_0_0" type="revolute">
        <origin rpy="-0.0872665 -1.66533e-16 1.5708" xyz="-0.0435377 0.034 -0.00553922" />
        <parent link="palm_link" />
        <child link="link_0" />
        <axis xyz="0 0 1" />
        <limit effort="15" lower="-0.45" upper="0.55" velocity="20" />
        <dynamics damping="1" friction="0.5" />
        <gazebo>
            <implicitSpringDamper>true</implicitSpringDamper>
        </gazebo>
    </joint>
    <!-- *************************************Transmission************************************** -->
    <transmission name="trans_0_0">
        <type>transmission_interface/SimpleTransmission</type>
        <joint name="joint_0_0">
            <hardwareInterface>hardware_interface/EffortJointInterface</hardwareInterface>
        </joint>
        <actuator name="motor_0_0">
            <mechanicalReduction>1</mechanicalReduction>
            <hardwareInterface>hardware_interface/EffortJointInterface</hardwareInterface>
        </actuator>
    </transmission>
    <!-- *************************************Transmission************************************** -->
    <link name="link_4">
        <visual>
            <origin rpy="1.5708 -0 1.53951e-48" xyz="0 -2.52778e-34 -0.0152" />
            <geometry>
                <mesh filename="package://allegro_hand_description/meshes/extended_finger_base.stl" />
            </geometry>
            <material name="extended_finger_base_material">
                <color rgba="0.647059 0.647059 0.647059 1.0" />
            </material>
        </visual>
        <collision>
            <origin rpy="1.5708 -0 1.53951e-48" xyz="0 -2.52778e-34 -0.0152" />
            <geometry>
                <mesh filename="package://allegro_hand_description/meshes/extended_finger_base.stl" />
            </geometry>
            <material name="extended_finger_base_material">
                <color rgba="0.647059 0.647059 0.647059 1.0" />
            </material>
        </collision>
        <inertial>
            <origin rpy="0 0 0" xyz="-0.00041342 0.000666149 0.00960564" />
            <mass value="0.0136672" />
            <inertia ixx="2.13441e-06" ixy="5.86704e-10" ixz="-7.9563e-08" iyy="1.24411e-06" iyz="-6.13056e-08" izz="1.671e-06" />
        </inertial>
    </link>
    <link name="link_5">
        <visual>
            <origin rpy="5.013e-31 1.48353 -2.03181e-30" xyz="0.0182688 0 -0.0317805" />
            <geometry>
                <mesh filename="package://allegro_hand_description/meshes/p2_r6.stl" />
            </geometry>
            <material name="p2_r6_material">
                <color rgba="0.129412 0.129412 0.129412 1.0" />
            </material>
        </visual>
        <collision>
            <origin rpy="5.013e-31 1.48353 -2.03181e-30" xyz="0.0182688 0 -0.0317805" />
            <geometry>
                <mesh filename="package://allegro_hand_description/meshes/p2_r6.stl" />
            </geometry>
            <material name="p2_r6_material">
                <color rgba="0.129412 0.129412 0.129412 1.0" />
            </material>
        </collision>
        <inertial>
            <origin rpy="0 0 0" xyz="-0.027 -9.54536e-05 0.0124409" />
            <mass value="0.0418346" />
            <inertia ixx="4.44908e-06" ixy="2.0693e-08" ixz="2.54038e-06" iyy="1.97927e-05" iyz="1.25552e-08" izz="1.84084e-05" />
        </inertial>
    </link>
    <link name="link_6">
        <visual>
            <origin rpy="-4.01371e-31 1.48353 4.99346e-31" xyz="0.0722688 -3.46945e-17 -0.0317805" />
            <geometry>
                <mesh filename="package://allegro_hand_description/meshes/extended_fingertop.stl" />
            </geometry>
            <material name="extended_fingertop_material">
                <color rgba="0.647059 0.647059 0.647059 1.0" />
            </material>
        </visual>
        <collision>
            <origin rpy="-4.01371e-31 1.48353 4.99346e-31" xyz="0.0722688 -3.46945e-17 -0.0317805" />
            <geometry>
                <mesh filename="package://allegro_hand_description/meshes/extended_fingertop.stl" />
            </geometry>
            <material name="extended_fingertop_material">
                <color rgba="0.647059 0.647059 0.647059 1.0" />
            </material>
        </collision>
        <inertial>
            <origin rpy="0 0 0" xyz="-0.0294592 -0.000104104 0.0123435" />
            <mass value="0.0318021" />
            <inertia ixx="3.48619e-06" ixy="1.20808e-07" ixz="6.2918e-07" iyy="8.82437e-06" iyz="5.78644e-09" izz="7.34771e-06" />
        </inertial>
    </link>
    <link name="link_7">
        <visual>
            <origin rpy="3.14159 1.26544e-33 -1.5708" xyz="0.1253 -6.245e-17 0.0118" />
            <geometry>
                <mesh filename="package://allegro_hand_description/meshes/p4_r.stl" />
            </geometry>
            <material name="p4_r_material">
                <color rgba="0.129412 0.129412 0.129412 1.0" />
            </material>
        </visual>
        <collision>
            <origin rpy="3.14159 1.26544e-33 -1.5708" xyz="0.1253 -6.245e-17 0.0118" />
            <geometry>
                <mesh filename="package://allegro_hand_description/meshes/p4_r.stl" />
            </geometry>
            <material name="p4_r_material">
                <color rgba="0.129412 0.129412 0.129412 1.0" />
            </material>
        </collision>
        <inertial>
            <origin rpy="0 0 0" xyz="-0.0100051 0.000639363 0.0123057" />
            <mass value="0.0088374" />
            <inertia ixx="1.08072e-06" ixy="-4.65695e-08" ixz="-3.42321e-08" iyy="1.11236e-06" iyz="-8.85024e-10" izz="5.61586e-07" />
        </inertial>
    </link>
    <link name="mft_bracket">
        <visual>
            <origin rpy="-3.14159 -1.35585e-31 -9.86076e-32" xyz="-0.1139 -0.004 0.0135" />
            <geometry>
                <mesh filename="package://allegro_hand_description/meshes/distal_pcbbase.stl" />
            </geometry>
            <material name="distal_pcbbase_material">
                <color rgba="1 0.756863 0.054902 1.0" />
            </material>
        </visual>
        <collision>
            <origin rpy="-3.14159 -1.35585e-31 -9.86076e-32" xyz="-0.1139 -0.004 0.0135" />
            <geometry>
                <mesh filename="package://allegro_hand_description/meshes/distal_pcbbase.stl" />
            </geometry>
            <material name="distal_pcbbase_material">
                <color rgba="1 0.756863 0.054902 1.0" />
            </material>
        </collision>
        <inertial>
            <origin rpy="0 0 0" xyz="0.0170719 -0.00112911 0.0135244" />
            <mass value="0.0155109" />
            <inertia ixx="3.339e-06" ixy="-4.60426e-07" ixz="1.73449e-08" iyy="6.13257e-06" iyz="-6.39964e-10" izz="4.49513e-06" />
        </inertial>
    </link>
    <link name="middle_fingertip_main_fpcb">
        <visual>
            <origin rpy="3.14159 -1.84889e-32 2.52682e-31" xyz="-0.12166 0.01366 8.66006e-18" />
            <geometry>
                <mesh filename="package://allegro_hand_description/meshes/distal_fpcb_1.stl" />
            </geometry>
            <material name="distal_fpcb_1_material">
                <color rgba="0.768627 0.886275 0.952941 1.0" />
            </material>
        </visual>
        <collision>
            <origin rpy="3.14159 -1.84889e-32 2.52682e-31" xyz="-0.12166 0.01366 8.66006e-18" />
            <geometry>
                <mesh filename="package://allegro_hand_description/meshes/distal_fpcb_1.stl" />
            </geometry>
            <material name="distal_fpcb_1_material">
                <color rgba="0.768627 0.886275 0.952941 1.0" />
            </material>
        </collision>
        <inertial>
            <origin rpy="0 0 0" xyz="0.0183062 0.0208616 2.89858e-05" />
            <mass value="0.00142203" />
            <inertia ixx="3.14637e-07" ixy="-2.70173e-08" ixz="2.90739e-11" iyy="3.18951e-07" iyz="-3.25215e-10" izz="4.09623e-07" />
        </inertial>
    </link>
    <joint name="joint_middle_fingertip_main_fpcb" type="fixed">
        <origin rpy="-4.82947e-15 -7.14706e-15 2.77556e-17" xyz="0.00776046 -0.01766 0.0135" />
        <parent link="mft_bracket" />
        <child link="middle_fingertip_main_fpcb" />
        <axis xyz="0 0 1" />
        <limit effort="1" velocity="20" />
        <joint_properties friction="0.0" />
    </joint>
    <link name="middle_fingertip_side_fpcb">
        <visual>
            <origin rpy="3.23556e-32 -3.82105e-31 -6.22461e-31" xyz="-0.153816 0.0136001 -0.0162593" />
            <geometry>
                <mesh filename="package://allegro_hand_description/meshes/distal_fpcb_2.stl" />
            </geometry>
            <material name="distal_fpcb_2_material">
                <color rgba="0.972549 0.529412 0.00392157 1.0" />
            </material>
        </visual>
        <collision>
            <origin rpy="3.23556e-32 -3.82105e-31 -6.22461e-31" xyz="-0.153816 0.0136001 -0.0162593" />
            <geometry>
                <mesh filename="package://allegro_hand_description/meshes/distal_fpcb_2.stl" />
            </geometry>
            <material name="distal_fpcb_2_material">
                <color rgba="0.972549 0.529412 0.00392157 1.0" />
            </material>
        </collision>
        <inertial>
            <origin rpy="0 0 0" xyz="-0.0175916 0.00317983 -0.0164175" />
            <mass value="0.00128609" />
            <inertia ixx="3.5341e-07" ixy="2.54188e-08" ixz="-2.1826e-09" iyy="3.67946e-07" iyz="1.2158e-09" izz="1.99436e-07" />
        </inertial>
    </link>
    <joint name="joint_middle_fingertip_side_fpcb" type="fixed">
        <origin rpy="3.14159 -1.38778e-17 -2.77556e-17" xyz="0.0399163 0.0096 -0.00275858" />
        <parent link="mft_bracket" />
        <child link="middle_fingertip_side_fpcb" />
        <axis xyz="0 0 1" />
        <limit effort="1" velocity="20" />
        <joint_properties friction="0.0" />
    </joint>
    <joint name="joint_middle_fingertip_bracket" type="fixed">
        <origin rpy="3.14159 -8.32667e-16 -3.14159" xyz="-0.0135 0.004 0.0254" />
        <parent link="link_7" />
        <child link="mft_bracket" />
        <axis xyz="0 0 1" />
        <limit effort="1" velocity="20" />
        <joint_properties friction="0.0" />
    </joint>
    <joint name="joint_7_0" type="revolute">
        <origin rpy="-6.02043e-15 5.70882e-15 9.18658e-14" xyz="-0.04615 2.77556e-17 0.0001" />
        <parent link="link_6" />
        <child link="link_7" />
        <axis xyz="0 0 1" />
        <limit effort="15" lower="0" upper="1.4" velocity="20" />
        <dynamics damping="1" friction="0.5" />
        <gazebo>
            <implicitSpringDamper>true</implicitSpringDamper>
        </gazebo>
    </joint>
    <!-- *************************************Transmission************************************** -->
    <transmission name="trans_7_0">
        <type>transmission_interface/SimpleTransmission</type>
        <joint name="joint_7_0">
            <hardwareInterface>hardware_interface/EffortJointInterface</hardwareInterface>
        </joint>
        <actuator name="motor_7_0">
            <mechanicalReduction>1</mechanicalReduction>
            <hardwareInterface>hardware_interface/EffortJointInterface</hardwareInterface>
        </actuator>
    </transmission>
    <!-- *************************************Transmission************************************** -->
    <link name="mmf_bracket">
        <visual>
            <origin rpy="7.74847e-32 -5.579e-32 3.0743e-30" xyz="-0.0755 -0.004 0.014" />
            <geometry>
                <mesh filename="package://allegro_hand_description/meshes/medial_front.stl" />
            </geometry>
            <material name="medial_front_material">
                <color rgba="1 0.756863 0.054902 1.0" />
            </material>
        </visual>
        <collision>
            <origin rpy="7.74847e-32 -5.579e-32 3.0743e-30" xyz="-0.0755 -0.004 0.014" />
            <geometry>
                <mesh filename="package://allegro_hand_description/meshes/medial_front.stl" />
            </geometry>
            <material name="medial_front_material">
                <color rgba="1 0.756863 0.054902 1.0" />
            </material>
        </collision>
        <inertial>
            <origin rpy="0 0 0" xyz="0.00469281 0.00336791 0.0198072" />
            <mass value="0.00473232" />
            <inertia ixx="8.28869e-07" ixy="-2.96994e-07" ixz="2.53991e-07" iyy="1.55762e-06" iyz="2.23567e-07" izz="1.28629e-06" />
        </inertial>
    </link>
    <link name="middle_medial_front_fpcb">
        <visual>
            <origin rpy="-1.5708 -1.5708 0" xyz="-0.0129 0.0096 -0.1092" />
            <geometry>
                <mesh filename="package://allegro_hand_description/meshes/medial_front_fpcb.stl" />
            </geometry>
            <material name="medial_front_fpcb_material">
                <color rgba="0.980392 0.713725 0.00392157 1.0" />
            </material>
        </visual>
        <collision>
            <origin rpy="-1.5708 -1.5708 0" xyz="-0.0129 0.0096 -0.1092" />
            <geometry>
                <mesh filename="package://allegro_hand_description/meshes/medial_front_fpcb.stl" />
            </geometry>
            <material name="medial_front_fpcb_material">
                <color rgba="0.980392 0.713725 0.00392157 1.0" />
            </material>
        </collision>
        <inertial>
            <origin rpy="0 0 0" xyz="-0.00409182 0.0164946 -0.0268705" />
            <mass value="0.00086951" />
            <inertia ixx="2.73483e-07" ixy="9.10299e-08" ixz="5.0825e-08" iyy="1.4757e-07" iyz="-6.87648e-08" izz="3.07195e-07" />
        </inertial>
    </link>
    <joint name="joint_middle_medial_front_fpcb" type="fixed">
        <origin rpy="1.5708 1.79259e-30 1.5708" xyz="0.0337 0.0089 0.0044" />
        <parent link="mmf_bracket" />
        <child link="middle_medial_front_fpcb" />
        <axis xyz="0 0 1" />
        <limit effort="1" velocity="20" />
        <joint_properties friction="0.0" />
    </joint>
    <joint name="joint_middle_medial_front_bracket" type="fixed">
        <origin rpy="-2.91434e-16 2.19124e-17 3.14159" xyz="-0.0215 -0.004 -0.0021" />
        <parent link="link_6" />
        <child link="mmf_bracket" />
        <axis xyz="0 0 1" />
        <limit effort="1" velocity="20" />
        <joint_properties friction="0.0" />
    </joint>
    <link name="mmb_bracket">
        <visual>
            <origin rpy="3.14159 6.80319e-32 5.68486e-30" xyz="-0.0755 -0.004 0.014" />
            <geometry>
                <mesh filename="package://allegro_hand_description/meshes/medial_back.stl" />
            </geometry>
            <material name="medial_back_material">
                <color rgba="1 0.756863 0.054902 1.0" />
            </material>
        </visual>
        <collision>
            <origin rpy="3.14159 6.80319e-32 5.68486e-30" xyz="-0.0755 -0.004 0.014" />
            <geometry>
                <mesh filename="package://allegro_hand_description/meshes/medial_back.stl" />
            </geometry>
            <material name="medial_back_material">
                <color rgba="1 0.756863 0.054902 1.0" />
            </material>
        </collision>
        <inertial>
            <origin rpy="0 0 0" xyz="0.0050369 0.00536951 0.0198823" />
            <mass value="0.00531302" />
            <inertia ixx="1.01036e-06" ixy="-2.70353e-07" ixz="2.64599e-07" iyy="1.7622e-06" iyz="2.24575e-07" izz="1.4134e-06" />
        </inertial>
    </link>
    <link name="middle_medial_back_fpcb">
        <visual>
            <origin rpy="-1.5708 -1.5708 0" xyz="0.0145 -0.014 -0.1092" />
            <geometry>
                <mesh filename="package://allegro_hand_description/meshes/medial_back_fpcb.stl" />
            </geometry>
            <material name="medial_back_fpcb_material">
                <color rgba="0.498039 0.498039 0.498039 1.0" />
            </material>
        </visual>
        <collision>
            <origin rpy="-1.5708 -1.5708 0" xyz="0.0145 -0.014 -0.1092" />
            <geometry>
                <mesh filename="package://allegro_hand_description/meshes/medial_back_fpcb.stl" />
            </geometry>
            <material name="medial_back_fpcb_material">
                <color rgba="0.498039 0.498039 0.498039 1.0" />
            </material>
        </collision>
        <inertial>
            <origin rpy="0 0 0" xyz="0.0031423 -0.0198367 -0.0257098" />
            <mass value="0.000991462" />
            <inertia ixx="2.93113e-07" ixy="-9.38799e-08" ixz="5.77704e-08" iyy="1.96504e-07" iyz="6.0309e-08" izz="3.52075e-07" />
        </inertial>
    </link>
    <joint name="joint_middle_medial_back_fpcb" type="fixed">
        <origin rpy="-1.5708 2.57582e-26 -1.5708" xyz="0.0337 0.0105 1.38778e-17" />
        <parent link="mmb_bracket" />
        <child link="middle_medial_back_fpcb" />
        <axis xyz="0 0 1" />
        <limit effort="1" velocity="20" />
        <joint_properties friction="0.0" />
    </joint>
    <joint name="joint_middle_medial_back_bracket" type="fixed">
        <origin rpy="-3.14159 -1.5933e-17 3.14159" xyz="-0.0215 0.004 0.0259" />
        <parent link="link_6" />
        <child link="mmb_bracket" />
        <axis xyz="0 0 1" />
        <limit effort="1" velocity="20" />
        <joint_properties friction="0.0" />
    </joint>
    <joint name="joint_6_0" type="revolute">
        <origin rpy="2.4529e-15 -5.42863e-15 3.19463e-15" xyz="-0.054 -1.66533e-16 -7.30319e-16" />
        <parent link="link_5" />
        <child link="link_6" />
        <axis xyz="0 0 1" />
        <limit effort="15" lower="0" upper="1.5" velocity="20" />
        <dynamics damping="1" friction="0.5" />
        <gazebo>
            <implicitSpringDamper>true</implicitSpringDamper>
        </gazebo>
    </joint>
    <!-- *************************************Transmission************************************** -->
    <transmission name="trans_6_0">
        <type>transmission_interface/SimpleTransmission</type>
        <joint name="joint_6_0">
            <hardwareInterface>hardware_interface/EffortJointInterface</hardwareInterface>
        </joint>
        <actuator name="motor_6_0">
            <mechanicalReduction>1</mechanicalReduction>
            <hardwareInterface>hardware_interface/EffortJointInterface</hardwareInterface>
        </actuator>
    </transmission>
    <!-- *************************************Transmission************************************** -->
    <link name="mpb_bracket">
        <visual>
            <origin rpy="3.14159 -4.6691e-34 5.87245e-30" xyz="-0.0249 -0.0037 0.014" />
            <geometry>
                <mesh filename="package://allegro_hand_description/meshes/proximal_back.stl" />
            </geometry>
            <material name="proximal_back_material">
                <color rgba="1 0.756863 0.054902 1.0" />
            </material>
        </visual>
        <collision>
            <origin rpy="3.14159 -4.6691e-34 5.87245e-30" xyz="-0.0249 -0.0037 0.014" />
            <geometry>
                <mesh filename="package://allegro_hand_description/meshes/proximal_back.stl" />
            </geometry>
            <material name="proximal_back_material">
                <color rgba="1 0.756863 0.054902 1.0" />
            </material>
        </collision>
        <inertial>
            <origin rpy="0 0 0" xyz="0.00190421 0.00603324 0.0192417" />
            <mass value="0.00681742" />
            <inertia ixx="1.33469e-06" ixy="-1.25087e-08" ixz="-1.65721e-09" iyy="2.12223e-06" iyz="3.02232e-07" izz="1.86525e-06" />
        </inertial>
    </link>
    <link name="middle_proximal_back_fpcb">
        <visual>
            <origin rpy="-1.5708 2.34367e-30 2.18567e-32" xyz="0.0028 -0.0131 -0.0136" />
            <geometry>
                <mesh filename="package://allegro_hand_description/meshes/proximal_back_fpcb.stl" />
            </geometry>
            <material name="proximal_back_fpcb_material">
                <color rgba="0.917647 0.917647 0.917647 1.0" />
            </material>
        </visual>
        <collision>
            <origin rpy="-1.5708 2.34367e-30 2.18567e-32" xyz="0.0028 -0.0131 -0.0136" />
            <geometry>
                <mesh filename="package://allegro_hand_description/meshes/proximal_back_fpcb.stl" />
            </geometry>
            <material name="proximal_back_fpcb_material">
                <color rgba="0.917647 0.917647 0.917647 1.0" />
            </material>
        </collision>
        <inertial>
            <origin rpy="0 0 0" xyz="0.0298338 -0.0157289 -0.000514151" />
            <mass value="0.00110296" />
            <inertia ixx="2.17583e-07" ixy="-7.11341e-10" ixz="-5.50926e-10" iyy="3.62763e-07" iyz="-5.1761e-08" izz="4.40838e-07" />
        </inertial>
    </link>
    <joint name="joint_middle_proximal_back_fpcb" type="fixed">
        <origin rpy="-1.5708 1.69768e-31 -2.34367e-30" xyz="-0.0277 0.0099 0.0009" />
        <parent link="mpb_bracket" />
        <child link="middle_proximal_back_fpcb" />
        <axis xyz="0 0 1" />
        <limit effort="1" velocity="20" />
        <joint_properties friction="0.0" />
    </joint>
    <joint name="joint_middle_proximal_back_bracket" type="fixed">
        <origin rpy="-3.14159 4.05868e-15 3.14159" xyz="-0.0249 0.0037 0.0253" />
        <parent link="link_5" />
        <child link="mpb_bracket" />
        <axis xyz="0 0 1" />
        <limit effort="1" velocity="20" />
        <joint_properties friction="0.0" />
    </joint>
    <link name="mpf_bracket">
        <visual>
            <origin rpy="1.4926e-32 -3.38771e-31 -2.46519e-30" xyz="-0.0249 -0.0077 0.014" />
            <geometry>
                <mesh filename="package://allegro_hand_description/meshes/proximal_front.stl" />
            </geometry>
            <material name="proximal_front_material">
                <color rgba="1 0.756863 0.054902 1.0" />
            </material>
        </visual>
        <collision>
            <origin rpy="1.4926e-32 -3.38771e-31 -2.46519e-30" xyz="-0.0249 -0.0077 0.014" />
            <geometry>
                <mesh filename="package://allegro_hand_description/meshes/proximal_front.stl" />
            </geometry>
            <material name="proximal_front_material">
                <color rgba="1 0.756863 0.054902 1.0" />
            </material>
        </collision>
        <inertial>
            <origin rpy="0 0 0" xyz="0.00266438 0.00143857 0.0191449" />
            <mass value="0.00549452" />
            <inertia ixx="8.30997e-07" ixy="-1.44805e-08" ixz="8.87855e-09" iyy="1.59352e-06" iyz="2.4142e-07" izz="1.37197e-06" />
        </inertial>
    </link>
    <link name="middle_proximal_front_fpcb">
        <visual>
            <origin rpy="-7.42927e-32 -1.59852e-31 1.64921e-29" xyz="-0.0568 -0.013652 0.0096" />
            <geometry>
                <mesh filename="package://allegro_hand_description/meshes/proximal_frontfpcb.stl" />
            </geometry>
            <material name="proximal_frontfpcb_material">
                <color rgba="0.768627 0.886275 0.952941 1.0" />
            </material>
        </visual>
        <collision>
            <origin rpy="-7.42927e-32 -1.59852e-31 1.64921e-29" xyz="-0.0568 -0.013652 0.0096" />
            <geometry>
                <mesh filename="package://allegro_hand_description/meshes/proximal_frontfpcb.stl" />
            </geometry>
            <material name="proximal_frontfpcb_material">
                <color rgba="0.768627 0.886275 0.952941 1.0" />
            </material>
        </collision>
        <inertial>
            <origin rpy="0 0 0" xyz="-0.0293893 -0.00228345 0.0126321" />
            <mass value="0.000871809" />
            <inertia ixx="1.32851e-07" ixy="-1.29621e-09" ixz="-1.28414e-09" iyy="3.08668e-07" iyz="3.73193e-08" izz="2.63246e-07" />
        </inertial>
    </link>
    <joint name="joint_middle_proximal_front_fpcb" type="fixed">
        <origin rpy="-6.26539e-15 -5.20417e-18 5.55112e-17" xyz="0.0319 0.00595201 0.0044" />
        <parent link="mpf_bracket" />
        <child link="middle_proximal_front_fpcb" />
        <axis xyz="0 0 1" />
        <limit effort="1" velocity="20" />
        <joint_properties friction="0.0" />
    </joint>
    <joint name="joint_middle_proximal_front_bracket" type="fixed">
        <origin rpy="-1.96804e-15 3.74674e-16 3.14159" xyz="-0.0249 -0.0077 -0.0017" />
        <parent link="link_5" />
        <child link="mpf_bracket" />
        <axis xyz="0 0 1" />
        <limit effort="1" velocity="20" />
        <joint_properties friction="0.0" />
    </joint>
    <joint name="joint_5_0" type="revolute">
        <origin rpy="-1.5708 1.5708 0" xyz="-4.16334e-17 -0.0119 0.02545" />
        <parent link="link_4" />
        <child link="link_5" />
        <axis xyz="0 0 1" />
        <limit effort="15" lower="0" upper="1.65" velocity="20" />
        <dynamics damping="1" friction="0.5" />
        <gazebo>
            <implicitSpringDamper>true</implicitSpringDamper>
        </gazebo>
    </joint>
    <!-- *************************************Transmission************************************** -->
    <transmission name="trans_5_0">
        <type>transmission_interface/SimpleTransmission</type>
        <joint name="joint_5_0">
            <hardwareInterface>hardware_interface/EffortJointInterface</hardwareInterface>
        </joint>
        <actuator name="motor_5_0">
            <mechanicalReduction>1</mechanicalReduction>
            <hardwareInterface>hardware_interface/EffortJointInterface</hardwareInterface>
        </actuator>
    </transmission>
    <!-- *************************************Transmission************************************** -->
    <joint name="joint_4_0" type="revolute">
        <origin rpy="0 -0 1.5708" xyz="-2.68398e-34 0.034 -0.0033" />
        <parent link="palm_link" />
        <child link="link_4" />
        <axis xyz="0 0 1" />
        <limit effort="15" lower="-0.55" upper="0.45" velocity="20" />
        <dynamics damping="1" friction="0.5" />
        <gazebo>
            <implicitSpringDamper>true</implicitSpringDamper>
        </gazebo>
    </joint>
    <!-- *************************************Transmission************************************** -->
    <transmission name="trans_4_0">
        <type>transmission_interface/SimpleTransmission</type>
        <joint name="joint_4_0">
            <hardwareInterface>hardware_interface/EffortJointInterface</hardwareInterface>
        </joint>
        <actuator name="motor_4_0">
            <mechanicalReduction>1</mechanicalReduction>
            <hardwareInterface>hardware_interface/EffortJointInterface</hardwareInterface>
        </actuator>
    </transmission>
    <!-- *************************************Transmission************************************** -->
    <link name="link_8">
        <visual>
            <origin rpy="1.5708 -1.84889e-32 4.46816e-32" xyz="6.93889e-18 -6.93889e-18 -0.0152" />
            <geometry>
                <mesh filename="package://allegro_hand_description/meshes/extended_finger_base.stl" />
            </geometry>
            <material name="extended_finger_base_material">
                <color rgba="0.647059 0.647059 0.647059 1.0" />
            </material>
        </visual>
        <collision>
            <origin rpy="1.5708 -1.84889e-32 4.46816e-32" xyz="6.93889e-18 -6.93889e-18 -0.0152" />
            <geometry>
                <mesh filename="package://allegro_hand_description/meshes/extended_finger_base.stl" />
            </geometry>
            <material name="extended_finger_base_material">
                <color rgba="0.647059 0.647059 0.647059 1.0" />
            </material>
        </collision>
        <inertial>
            <origin rpy="0 0 0" xyz="-0.00041342 0.000666149 0.00960564" />
            <mass value="0.0136672" />
            <inertia ixx="2.13441e-06" ixy="5.86704e-10" ixz="-7.9563e-08" iyy="1.24411e-06" iyz="-6.13056e-08" izz="1.671e-06" />
        </inertial>
    </link>
    <link name="link_9">
        <visual>
            <origin rpy="1.70593e-30 1.48353 -1.17581e-30" xyz="0.0182688 6.93889e-18 -0.0317805" />
            <geometry>
                <mesh filename="package://allegro_hand_description/meshes/p2_r6.stl" />
            </geometry>
            <material name="p2_r6_material">
                <color rgba="0.129412 0.129412 0.129412 1.0" />
            </material>
        </visual>
        <collision>
            <origin rpy="1.70593e-30 1.48353 -1.17581e-30" xyz="0.0182688 6.93889e-18 -0.0317805" />
            <geometry>
                <mesh filename="package://allegro_hand_description/meshes/p2_r6.stl" />
            </geometry>
            <material name="p2_r6_material">
                <color rgba="0.129412 0.129412 0.129412 1.0" />
            </material>
        </collision>
        <inertial>
            <origin rpy="0 0 0" xyz="-0.027 -9.54536e-05 0.0124409" />
            <mass value="0.0418346" />
            <inertia ixx="4.44908e-06" ixy="2.0693e-08" ixz="2.54038e-06" iyy="1.97927e-05" iyz="1.25552e-08" izz="1.84084e-05" />
        </inertial>
    </link>
    <link name="link_10">
        <visual>
            <origin rpy="-6.3738e-31 1.48353 2.91843e-30" xyz="0.0722688 -4.16334e-17 -0.0317805" />
            <geometry>
                <mesh filename="package://allegro_hand_description/meshes/extended_fingertop.stl" />
            </geometry>
            <material name="extended_fingertop_material">
                <color rgba="0.647059 0.647059 0.647059 1.0" />
            </material>
        </visual>
        <collision>
            <origin rpy="-6.3738e-31 1.48353 2.91843e-30" xyz="0.0722688 -4.16334e-17 -0.0317805" />
            <geometry>
                <mesh filename="package://allegro_hand_description/meshes/extended_fingertop.stl" />
            </geometry>
            <material name="extended_fingertop_material">
                <color rgba="0.647059 0.647059 0.647059 1.0" />
            </material>
        </collision>
        <inertial>
            <origin rpy="0 0 0" xyz="-0.0294592 -0.000104104 0.0123435" />
            <mass value="0.0318021" />
            <inertia ixx="3.48619e-06" ixy="1.20808e-07" ixz="6.2918e-07" iyy="8.82437e-06" iyz="5.78644e-09" izz="7.34771e-06" />
        </inertial>
    </link>
    <link name="link_11">
        <visual>
            <origin rpy="3.14159 -1.68249e-30 -1.5708" xyz="0.1253 -6.245e-17 0.0118" />
            <geometry>
                <mesh filename="package://allegro_hand_description/meshes/p4_r.stl" />
            </geometry>
            <material name="p4_r_material">
                <color rgba="0.129412 0.129412 0.129412 1.0" />
            </material>
        </visual>
        <collision>
            <origin rpy="3.14159 -1.68249e-30 -1.5708" xyz="0.1253 -6.245e-17 0.0118" />
            <geometry>
                <mesh filename="package://allegro_hand_description/meshes/p4_r.stl" />
            </geometry>
            <material name="p4_r_material">
                <color rgba="0.129412 0.129412 0.129412 1.0" />
            </material>
        </collision>
        <inertial>
            <origin rpy="0 0 0" xyz="-0.0100051 0.000639363 0.0123057" />
            <mass value="0.0088374" />
            <inertia ixx="1.08072e-06" ixy="-4.65695e-08" ixz="-3.42321e-08" iyy="1.11236e-06" iyz="-8.85024e-10" izz="5.61586e-07" />
        </inertial>
    </link>
    <link name="pft_bracket">
        <visual>
            <origin rpy="-3.14159 1.28916e-17 -5.47827e-30" xyz="-0.1139 -0.004 0.0135" />
            <geometry>
                <mesh filename="package://allegro_hand_description/meshes/distal_pcbbase.stl" />
            </geometry>
            <material name="distal_pcbbase_material">
                <color rgba="1 0.756863 0.054902 1.0" />
            </material>
        </visual>
        <collision>
            <origin rpy="-3.14159 1.28916e-17 -5.47827e-30" xyz="-0.1139 -0.004 0.0135" />
            <geometry>
                <mesh filename="package://allegro_hand_description/meshes/distal_pcbbase.stl" />
            </geometry>
            <material name="distal_pcbbase_material">
                <color rgba="1 0.756863 0.054902 1.0" />
            </material>
        </collision>
        <inertial>
            <origin rpy="0 0 0" xyz="0.0170719 -0.00112911 0.0135244" />
            <mass value="0.0155109" />
            <inertia ixx="3.339e-06" ixy="-4.60426e-07" ixz="1.73449e-08" iyy="6.13257e-06" iyz="-6.39964e-10" izz="4.49513e-06" />
        </inertial>
    </link>
    <link name="pinky_fingertip_main_fpcb">
        <visual>
            <origin rpy="-3.14159 1.9938e-17 -2.07776e-29" xyz="-0.12166 0.01366 1.38778e-17" />
            <geometry>
                <mesh filename="package://allegro_hand_description/meshes/distal_fpcb_1.stl" />
            </geometry>
            <material name="distal_fpcb_1_material">
                <color rgba="0.768627 0.886275 0.952941 1.0" />
            </material>
        </visual>
        <collision>
            <origin rpy="-3.14159 1.9938e-17 -2.07776e-29" xyz="-0.12166 0.01366 1.38778e-17" />
            <geometry>
                <mesh filename="package://allegro_hand_description/meshes/distal_fpcb_1.stl" />
            </geometry>
            <material name="distal_fpcb_1_material">
                <color rgba="0.768627 0.886275 0.952941 1.0" />
            </material>
        </collision>
        <inertial>
            <origin rpy="0 0 0" xyz="0.0183062 0.0208616 2.89858e-05" />
            <mass value="0.00142203" />
            <inertia ixx="3.14637e-07" ixy="-2.70173e-08" ixz="2.90739e-11" iyy="3.18951e-07" iyz="-3.25215e-10" izz="4.09623e-07" />
        </inertial>
    </link>
    <joint name="joint_pinky_fingertip_main_fpcb" type="fixed">
        <origin rpy="-4.08652e-17 5.17584e-16 1.66533e-16" xyz="0.00776046 -0.01766 0.0135" />
        <parent link="pft_bracket" />
        <child link="pinky_fingertip_main_fpcb" />
        <axis xyz="0 0 1" />
        <limit effort="1" velocity="20" />
        <joint_properties friction="0.0" />
    </joint>
    <link name="pinky_fingertip_side_fpcb">
        <visual>
            <origin rpy="-3.60571e-31 -1.028e-17 -3.19673e-30" xyz="-0.153816 0.0136001 -0.0162593" />
            <geometry>
                <mesh filename="package://allegro_hand_description/meshes/distal_fpcb_2.stl" />
            </geometry>
            <material name="distal_fpcb_2_material">
                <color rgba="0.972549 0.529412 0.00392157 1.0" />
            </material>
        </visual>
        <collision>
            <origin rpy="-3.60571e-31 -1.028e-17 -3.19673e-30" xyz="-0.153816 0.0136001 -0.0162593" />
            <geometry>
                <mesh filename="package://allegro_hand_description/meshes/distal_fpcb_2.stl" />
            </geometry>
            <material name="distal_fpcb_2_material">
                <color rgba="0.972549 0.529412 0.00392157 1.0" />
            </material>
        </collision>
        <inertial>
            <origin rpy="0 0 0" xyz="-0.0175916 0.00317983 -0.0164175" />
            <mass value="0.00128609" />
            <inertia ixx="3.5341e-07" ixy="2.54188e-08" ixz="-2.1826e-09" iyy="3.67946e-07" iyz="1.2158e-09" izz="1.99436e-07" />
        </inertial>
    </link>
    <joint name="joint_pinky_fingertip_side_fpcb" type="fixed">
        <origin rpy="-3.14159 5.15965e-17 5.55112e-17" xyz="0.0399163 0.0096 -0.00275858" />
        <parent link="pft_bracket" />
        <child link="pinky_fingertip_side_fpcb" />
        <axis xyz="0 0 1" />
        <limit effort="1" velocity="20" />
        <joint_properties friction="0.0" />
    </joint>
    <joint name="joint_pinky_fingertip_bracket" type="fixed">
        <origin rpy="3.14159 4.4328e-16 3.14159" xyz="-0.0135 0.004 0.0254" />
        <parent link="link_11" />
        <child link="pft_bracket" />
        <axis xyz="0 0 1" />
        <limit effort="1" velocity="20" />
        <joint_properties friction="0.0" />
    </joint>
    <joint name="joint_11_0" type="revolute">
        <origin rpy="-2.08897e-16 7.34965e-16 -9.23803e-14" xyz="-0.04615 2.08167e-17 0.0001" />
        <parent link="link_10" />
        <child link="link_11" />
        <axis xyz="0 0 1" />
        <limit effort="15" lower="0" upper="1.4" velocity="20" />
        <dynamics damping="1" friction="0.5" />
        <gazebo>
            <implicitSpringDamper>true</implicitSpringDamper>
        </gazebo>
    </joint>
    <!-- *************************************Transmission************************************** -->
    <transmission name="trans_11_0">
        <type>transmission_interface/SimpleTransmission</type>
        <joint name="joint_11_0">
            <hardwareInterface>hardware_interface/EffortJointInterface</hardwareInterface>
        </joint>
        <actuator name="motor_11_0">
            <mechanicalReduction>1</mechanicalReduction>
            <hardwareInterface>hardware_interface/EffortJointInterface</hardwareInterface>
        </actuator>
    </transmission>
    <!-- *************************************Transmission************************************** -->
    <link name="pmf_bracket">
        <visual>
            <origin rpy="5.55513e-32 -1.31932e-17 -4.97361e-33" xyz="-0.0755 -0.004 0.014" />
            <geometry>
                <mesh filename="package://allegro_hand_description/meshes/medial_front.stl" />
            </geometry>
            <material name="medial_front_material">
                <color rgba="1 0.756863 0.054902 1.0" />
            </material>
        </visual>
        <collision>
            <origin rpy="5.55513e-32 -1.31932e-17 -4.97361e-33" xyz="-0.0755 -0.004 0.014" />
            <geometry>
                <mesh filename="package://allegro_hand_description/meshes/medial_front.stl" />
            </geometry>
            <material name="medial_front_material">
                <color rgba="1 0.756863 0.054902 1.0" />
            </material>
        </collision>
        <inertial>
            <origin rpy="0 0 0" xyz="0.00469281 0.00336791 0.0198072" />
            <mass value="0.00473232" />
            <inertia ixx="8.28869e-07" ixy="-2.96994e-07" ixz="2.53991e-07" iyy="1.55762e-06" iyz="2.23567e-07" izz="1.28629e-06" />
        </inertial>
    </link>
    <link name="pinky_medial_front_fpcb">
        <visual>
            <origin rpy="-1.5708 -1.5708 0" xyz="-0.0129 0.0096 -0.1092" />
            <geometry>
                <mesh filename="package://allegro_hand_description/meshes/medial_front_fpcb.stl" />
            </geometry>
            <material name="medial_front_fpcb_material">
                <color rgba="0.980392 0.713725 0.00392157 1.0" />
            </material>
        </visual>
        <collision>
            <origin rpy="-1.5708 -1.5708 0" xyz="-0.0129 0.0096 -0.1092" />
            <geometry>
                <mesh filename="package://allegro_hand_description/meshes/medial_front_fpcb.stl" />
            </geometry>
            <material name="medial_front_fpcb_material">
                <color rgba="0.980392 0.713725 0.00392157 1.0" />
            </material>
        </collision>
        <inertial>
            <origin rpy="0 0 0" xyz="-0.00409182 0.0164946 -0.0268705" />
            <mass value="0.00086951" />
            <inertia ixx="2.73483e-07" ixy="9.10299e-08" ixz="5.0825e-08" iyy="1.4757e-07" iyz="-6.87648e-08" izz="3.07195e-07" />
        </inertial>
    </link>
    <joint name="joint_pinky_medial_front_fpcb" type="fixed">
        <origin rpy="1.5708 -4.44891e-19 1.5708" xyz="0.0337 0.0089 0.0044" />
        <parent link="pmf_bracket" />
        <child link="pinky_medial_front_fpcb" />
        <axis xyz="0 0 1" />
        <limit effort="1" velocity="20" />
        <joint_properties friction="0.0" />
    </joint>
    <joint name="joint_pinky_medial_front_bracket" type="fixed">
        <origin rpy="5.55513e-32 -1.31932e-17 3.14159" xyz="-0.0215 -0.004 -0.0021" />
        <parent link="link_10" />
        <child link="pmf_bracket" />
        <axis xyz="0 0 1" />
        <limit effort="1" velocity="20" />
        <joint_properties friction="0.0" />
    </joint>
    <link name="pmb_bracket">
        <visual>
            <origin rpy="-3.14159 1.31932e-17 4.97361e-33" xyz="-0.0755 -0.004 0.014" />
            <geometry>
                <mesh filename="package://allegro_hand_description/meshes/medial_back.stl" />
            </geometry>
            <material name="medial_back_material">
                <color rgba="1 0.756863 0.054902 1.0" />
            </material>
        </visual>
        <collision>
            <origin rpy="-3.14159 1.31932e-17 4.97361e-33" xyz="-0.0755 -0.004 0.014" />
            <geometry>
                <mesh filename="package://allegro_hand_description/meshes/medial_back.stl" />
            </geometry>
            <material name="medial_back_material">
                <color rgba="1 0.756863 0.054902 1.0" />
            </material>
        </collision>
        <inertial>
            <origin rpy="0 0 0" xyz="0.0050369 0.00536951 0.0198823" />
            <mass value="0.00531302" />
            <inertia ixx="1.01036e-06" ixy="-2.70353e-07" ixz="2.64599e-07" iyy="1.7622e-06" iyz="2.24575e-07" izz="1.4134e-06" />
        </inertial>
    </link>
    <link name="pinky_medial_back_fpcb">
        <visual>
            <origin rpy="-1.5708 -1.5708 0" xyz="0.0145 -0.014 -0.1092" />
            <geometry>
                <mesh filename="package://allegro_hand_description/meshes/medial_back_fpcb.stl" />
            </geometry>
            <material name="medial_back_fpcb_material">
                <color rgba="0.498039 0.498039 0.498039 1.0" />
            </material>
        </visual>
        <collision>
            <origin rpy="-1.5708 -1.5708 0" xyz="0.0145 -0.014 -0.1092" />
            <geometry>
                <mesh filename="package://allegro_hand_description/meshes/medial_back_fpcb.stl" />
            </geometry>
            <material name="medial_back_fpcb_material">
                <color rgba="0.498039 0.498039 0.498039 1.0" />
            </material>
        </collision>
        <inertial>
            <origin rpy="0 0 0" xyz="0.0031423 -0.0198367 -0.0257098" />
            <mass value="0.000991462" />
            <inertia ixx="2.93113e-07" ixy="-9.38799e-08" ixz="5.77704e-08" iyy="1.96504e-07" iyz="6.0309e-08" izz="3.52075e-07" />
        </inertial>
    </link>
    <joint name="joint_pinky_medial_back_fpcb" type="fixed">
        <origin rpy="-1.5708 4.44891e-19 -1.5708" xyz="0.0337 0.0105 -4.51028e-17" />
        <parent link="pmb_bracket" />
        <child link="pinky_medial_back_fpcb" />
        <axis xyz="0 0 1" />
        <limit effort="1" velocity="20" />
        <joint_properties friction="0.0" />
    </joint>
    <joint name="joint_pinky_medial_back_bracket" type="fixed">
        <origin rpy="-3.14159 -1.31932e-17 3.14159" xyz="-0.0215 0.004 0.0259" />
        <parent link="link_10" />
        <child link="pmb_bracket" />
        <axis xyz="0 0 1" />
        <limit effort="1" velocity="20" />
        <joint_properties friction="0.0" />
    </joint>
    <joint name="joint_10_0" type="revolute">
        <origin rpy="7.38677e-17 -5.80172e-16 -7.55426e-16" xyz="-0.054 1.38778e-17 -1.249e-16" />
        <parent link="link_9" />
        <child link="link_10" />
        <axis xyz="0 0 1" />
        <limit effort="15" lower="0" upper="1.5" velocity="20" />
        <dynamics damping="1" friction="0.5" />
        <gazebo>
            <implicitSpringDamper>true</implicitSpringDamper>
        </gazebo>
    </joint>
    <!-- *************************************Transmission************************************** -->
    <transmission name="trans_10_0">
        <type>transmission_interface/SimpleTransmission</type>
        <joint name="joint_10_0">
            <hardwareInterface>hardware_interface/EffortJointInterface</hardwareInterface>
        </joint>
        <actuator name="motor_10_0">
            <mechanicalReduction>1</mechanicalReduction>
            <hardwareInterface>hardware_interface/EffortJointInterface</hardwareInterface>
        </actuator>
    </transmission>
    <!-- *************************************Transmission************************************** -->
    <link name="ppb_bracket">
        <visual>
            <origin rpy="-3.14159 -1.11271e-19 2.71125e-32" xyz="-0.0249 -0.0037 0.014" />
            <geometry>
                <mesh filename="package://allegro_hand_description/meshes/proximal_back.stl" />
            </geometry>
            <material name="proximal_back_material">
                <color rgba="1 0.756863 0.054902 1.0" />
            </material>
        </visual>
        <collision>
            <origin rpy="-3.14159 -1.11271e-19 2.71125e-32" xyz="-0.0249 -0.0037 0.014" />
            <geometry>
                <mesh filename="package://allegro_hand_description/meshes/proximal_back.stl" />
            </geometry>
            <material name="proximal_back_material">
                <color rgba="1 0.756863 0.054902 1.0" />
            </material>
        </collision>
        <inertial>
            <origin rpy="0 0 0" xyz="0.00190421 0.00603324 0.0192417" />
            <mass value="0.00681742" />
            <inertia ixx="1.33469e-06" ixy="-1.25087e-08" ixz="-1.65721e-09" iyy="2.12223e-06" iyz="3.02232e-07" izz="1.86525e-06" />
        </inertial>
    </link>
    <link name="pinky_proximal_back_fpcb">
        <visual>
            <origin rpy="-1.5708 2.2395e-32 5.32313e-18" xyz="0.0028 -0.0131 -0.0136" />
            <geometry>
                <mesh filename="package://allegro_hand_description/meshes/proximal_back_fpcb.stl" />
            </geometry>
            <material name="proximal_back_fpcb_material">
                <color rgba="0.917647 0.917647 0.917647 1.0" />
            </material>
        </visual>
        <collision>
            <origin rpy="-1.5708 2.2395e-32 5.32313e-18" xyz="0.0028 -0.0131 -0.0136" />
            <geometry>
                <mesh filename="package://allegro_hand_description/meshes/proximal_back_fpcb.stl" />
            </geometry>
            <material name="proximal_back_fpcb_material">
                <color rgba="0.917647 0.917647 0.917647 1.0" />
            </material>
        </collision>
        <inertial>
            <origin rpy="0 0 0" xyz="0.0298338 -0.0157289 -0.000514151" />
            <mass value="0.00110296" />
            <inertia ixx="2.17583e-07" ixy="-7.11341e-10" ixz="-5.50926e-10" iyy="3.62763e-07" iyz="-5.1761e-08" izz="4.40838e-07" />
        </inertial>
    </link>
    <joint name="joint_pinky_proximal_back_fpcb" type="fixed">
        <origin rpy="-1.5708 -8.3852e-18 -7.27119e-30" xyz="-0.0277 0.0099 0.0009" />
        <parent link="ppb_bracket" />
        <child link="pinky_proximal_back_fpcb" />
        <axis xyz="0 0 1" />
        <limit effort="1" velocity="20" />
        <joint_properties friction="0.0" />
    </joint>
    <joint name="joint_pinky_proximal_back_bracket" type="fixed">
        <origin rpy="-3.14159 5.61195e-15 3.14159" xyz="-0.0249 0.0037 0.0253" />
        <parent link="link_9" />
        <child link="ppb_bracket" />
        <axis xyz="0 0 1" />
        <limit effort="1" velocity="20" />
        <joint_properties friction="0.0" />
    </joint>
    <link name="ppf_bracket">
        <visual>
            <origin rpy="-4.46045e-31 1.1948e-18 7.49935e-32" xyz="-0.0249 -0.0077 0.014" />
            <geometry>
                <mesh filename="package://allegro_hand_description/meshes/proximal_front.stl" />
            </geometry>
            <material name="proximal_front_material">
                <color rgba="1 0.756863 0.054902 1.0" />
            </material>
        </visual>
        <collision>
            <origin rpy="-4.46045e-31 1.1948e-18 7.49935e-32" xyz="-0.0249 -0.0077 0.014" />
            <geometry>
                <mesh filename="package://allegro_hand_description/meshes/proximal_front.stl" />
            </geometry>
            <material name="proximal_front_material">
                <color rgba="1 0.756863 0.054902 1.0" />
            </material>
        </collision>
        <inertial>
            <origin rpy="0 0 0" xyz="0.00266438 0.00143857 0.0191449" />
            <mass value="0.00549452" />
            <inertia ixx="8.30997e-07" ixy="-1.44805e-08" ixz="8.87855e-09" iyy="1.59352e-06" iyz="2.4142e-07" izz="1.37197e-06" />
        </inertial>
    </link>
    <link name="pinky_proximal_front_fpcb">
        <visual>
            <origin rpy="1.31965e-30 -3.67426e-19 -1.38914e-31" xyz="-0.0568 -0.013652 0.0096" />
            <geometry>
                <mesh filename="package://allegro_hand_description/meshes/proximal_frontfpcb.stl" />
            </geometry>
            <material name="proximal_frontfpcb_material">
                <color rgba="0.768627 0.886275 0.952941 1.0" />
            </material>
        </visual>
        <collision>
            <origin rpy="1.31965e-30 -3.67426e-19 -1.38914e-31" xyz="-0.0568 -0.013652 0.0096" />
            <geometry>
                <mesh filename="package://allegro_hand_description/meshes/proximal_frontfpcb.stl" />
            </geometry>
            <material name="proximal_frontfpcb_material">
                <color rgba="0.768627 0.886275 0.952941 1.0" />
            </material>
        </collision>
        <inertial>
            <origin rpy="0 0 0" xyz="-0.0293893 -0.00228345 0.0126321" />
            <mass value="0.000871809" />
            <inertia ixx="1.32851e-07" ixy="-1.29621e-09" ixz="-1.28414e-09" iyy="3.08668e-07" iyz="3.73193e-08" izz="2.63246e-07" />
        </inertial>
    </link>
    <joint name="joint_pinky_proximal_front_fpcb" type="fixed">
        <origin rpy="-5.00673e-15 6.88757e-19 -5.55112e-17" xyz="0.0319 0.00595201 0.0044" />
        <parent link="ppf_bracket" />
        <child link="pinky_proximal_front_fpcb" />
        <axis xyz="0 0 1" />
        <limit effort="1" velocity="20" />
        <joint_properties friction="0.0" />
    </joint>
    <joint name="joint_pinky_proximal_front_bracket" type="fixed">
        <origin rpy="-1.96935e-15 3.88558e-16 3.14159" xyz="-0.0249 -0.0077 -0.0017" />
        <parent link="link_9" />
        <child link="ppf_bracket" />
        <axis xyz="0 0 1" />
        <limit effort="1" velocity="20" />
        <joint_properties friction="0.0" />
    </joint>
    <joint name="joint_9_0" type="revolute">
        <origin rpy="-1.5708 1.5708 0" xyz="-1.38778e-17 -0.0119 0.02545" />
        <parent link="link_8" />
        <child link="link_9" />
        <axis xyz="0 0 1" />
        <limit effort="15" lower="0" upper="1.65" velocity="20" />
        <dynamics damping="1" friction="0.5" />
        <gazebo>
            <implicitSpringDamper>true</implicitSpringDamper>
        </gazebo>
    </joint>
    <!-- *************************************Transmission************************************** -->
    <transmission name="trans_9_0">
        <type>transmission_interface/SimpleTransmission</type>
        <joint name="joint_9_0">
            <hardwareInterface>hardware_interface/EffortJointInterface</hardwareInterface>
        </joint>
        <actuator name="motor_9_0">
            <mechanicalReduction>1</mechanicalReduction>
            <hardwareInterface>hardware_interface/EffortJointInterface</hardwareInterface>
        </actuator>
    </transmission>
    <!-- *************************************Transmission************************************** -->
    <joint name="joint_8_0" type="revolute">
        <origin rpy="0.0872665 4.16334e-17 1.5708" xyz="0.0435377 0.034 -0.00553922" />
        <parent link="palm_link" />
        <child link="link_8" />
        <axis xyz="0 0 1" />
        <limit effort="15" lower="-0.45" upper="0.55" velocity="20" />
        <dynamics damping="1" friction="0.5" />
        <gazebo>
            <implicitSpringDamper>true</implicitSpringDamper>
        </gazebo>
    </joint>
    <!-- *************************************Transmission************************************** -->
    <transmission name="trans_8_0">
        <type>transmission_interface/SimpleTransmission</type>
        <joint name="joint_8_0">
            <hardwareInterface>hardware_interface/EffortJointInterface</hardwareInterface>
        </joint>
        <actuator name="motor_8_0">
            <mechanicalReduction>1</mechanicalReduction>
            <hardwareInterface>hardware_interface/EffortJointInterface</hardwareInterface>
        </actuator>
    </transmission>
    <!-- *************************************Transmission************************************** -->
    <link name="link_12">
        <visual>
            <origin rpy="-2.48535e-33 -0.0872665 -2.25407e-32" xyz="0.0232805 -0.0182 -0.0808312" />
            <geometry>
                <mesh filename="package://allegro_hand_description/meshes/f1_r.stl" />
            </geometry>
            <material name="f1_r_material">
                <color rgba="0.129412 0.129412 0.129412 1.0" />
            </material>
        </visual>
        <collision>
            <origin rpy="-2.48535e-33 -0.0872665 -2.25407e-32" xyz="0.0232805 -0.0182 -0.0808312" />
            <geometry>
                <mesh filename="package://allegro_hand_description/meshes/f1_r.stl" />
            </geometry>
            <material name="f1_r_material">
                <color rgba="0.129412 0.129412 0.129412 1.0" />
            </material>
        </collision>
        <inertial>
            <origin rpy="0 0 0" xyz="-0.0151161 -0.00905831 -0.0192298" />
            <mass value="0.0660275" />
            <inertia ixx="1.44344e-05" ixy="1.24597e-06" ixz="3.47822e-08" iyy="1.76386e-05" iyz="6.49531e-07" izz="1.41981e-05" />
        </inertial>
    </link>
    <link name="link_13">
        <visual>
            <origin rpy="1.5708 2.06898e-17 1.5708" xyz="-3.46945e-18 0 -0.0152" />
            <geometry>
                <mesh filename="package://allegro_hand_description/meshes/extended_finger_base.stl" />
            </geometry>
            <material name="extended_finger_base_material">
                <color rgba="0.647059 0.647059 0.647059 1.0" />
            </material>
        </visual>
        <collision>
            <origin rpy="1.5708 2.06898e-17 1.5708" xyz="-3.46945e-18 0 -0.0152" />
            <geometry>
                <mesh filename="package://allegro_hand_description/meshes/extended_finger_base.stl" />
            </geometry>
            <material name="extended_finger_base_material">
                <color rgba="0.647059 0.647059 0.647059 1.0" />
            </material>
        </collision>
        <inertial>
            <origin rpy="0 0 0" xyz="-0.000666149 -0.00041342 0.00960564" />
            <mass value="0.0136672" />
            <inertia ixx="1.671e-06" ixy="6.13056e-08" ixz="7.9563e-08" iyy="1.24411e-06" iyz="5.86704e-10" izz="2.13441e-06" />
        </inertial>
    </link>
    <link name="link_14">
        <visual>
            <origin rpy="-1.5708 -6.24879e-32 0.0872665" xyz="0.0787805 -0.0716312 0.0251" />
            <geometry>
                <mesh filename="package://allegro_hand_description/meshes/f3_r.stl" />
            </geometry>
            <material name="f3_r_material">
                <color rgba="0.129412 0.129412 0.129412 1.0" />
            </material>
        </visual>
        <collision>
            <origin rpy="-1.5708 -6.24879e-32 0.0872665" xyz="0.0787805 -0.0716312 0.0251" />
            <geometry>
                <mesh filename="package://allegro_hand_description/meshes/f3_r.stl" />
            </geometry>
            <material name="f3_r_material">
                <color rgba="0.129412 0.129412 0.129412 1.0" />
            </material>
        </collision>
        <inertial>
            <origin rpy="0 0 0" xyz="-0.0169218 0.00050045 0.012098" />
            <mass value="0.0307701" />
            <inertia ixx="3.26297e-06" ixy="-7.80105e-07" ixz="4.19183e-07" iyy="9.45316e-06" iyz="7.40454e-08" izz="8.27249e-06" />
        </inertial>
    </link>
    <link name="link_15">
        <visual>
            <origin rpy="-1.5708 -4.16204e-32 0.0872665" xyz="0.13018 -0.0716312 0.0252" />
            <geometry>
                <mesh filename="package://allegro_hand_description/meshes/f4_r.stl" />
            </geometry>
            <material name="f4_r_material">
                <color rgba="0.2 0.2 0.2 1.0" />
            </material>
        </visual>
        <collision>
            <origin rpy="-1.5708 -4.16204e-32 0.0872665" xyz="0.13018 -0.0716312 0.0252" />
            <geometry>
                <mesh filename="package://allegro_hand_description/meshes/f4_r.stl" />
            </geometry>
            <material name="f4_r_material">
                <color rgba="0.2 0.2 0.2 1.0" />
            </material>
        </collision>
        <inertial>
            <origin rpy="0 0 0" xyz="-0.0146717 0.000106021 0.012196" />
            <mass value="0.0326938" />
            <inertia ixx="2.85763e-06" ixy="-2.76566e-07" ixz="3.76274e-07" iyy="6.11217e-06" iyz="5.74019e-08" izz="5.36876e-06" />
        </inertial>
    </link>
    <link name="tft_bracket">
        <visual>
            <origin rpy="-3.14159 -8.50715e-32 5.33917e-18" xyz="-0.1139 -0.004 0.0135" />
            <geometry>
                <mesh filename="package://allegro_hand_description/meshes/distal_pcbbase.stl" />
            </geometry>
            <material name="distal_pcbbase_material">
                <color rgba="1 0.756863 0.054902 1.0" />
            </material>
        </visual>
        <collision>
            <origin rpy="-3.14159 -8.50715e-32 5.33917e-18" xyz="-0.1139 -0.004 0.0135" />
            <geometry>
                <mesh filename="package://allegro_hand_description/meshes/distal_pcbbase.stl" />
            </geometry>
            <material name="distal_pcbbase_material">
                <color rgba="1 0.756863 0.054902 1.0" />
            </material>
        </collision>
        <inertial>
            <origin rpy="0 0 0" xyz="0.0170719 -0.00112911 0.0135244" />
            <mass value="0.0155109" />
            <inertia ixx="3.339e-06" ixy="-4.60426e-07" ixz="1.73449e-08" iyy="6.13257e-06" iyz="-6.39964e-10" izz="4.49513e-06" />
        </inertial>
    </link>
    <link name="thumb_fingertip_main_fpcb">
        <visual>
            <origin rpy="-3.14159 1.09657e-31 8.05637e-18" xyz="-0.12166 0.01366 6.93889e-18" />
            <geometry>
                <mesh filename="package://allegro_hand_description/meshes/distal_fpcb_1.stl" />
            </geometry>
            <material name="distal_fpcb_1_material">
                <color rgba="0.768627 0.886275 0.952941 1.0" />
            </material>
        </visual>
        <collision>
            <origin rpy="-3.14159 1.09657e-31 8.05637e-18" xyz="-0.12166 0.01366 6.93889e-18" />
            <geometry>
                <mesh filename="package://allegro_hand_description/meshes/distal_fpcb_1.stl" />
            </geometry>
            <material name="distal_fpcb_1_material">
                <color rgba="0.768627 0.886275 0.952941 1.0" />
            </material>
        </collision>
        <inertial>
            <origin rpy="0 0 0" xyz="0.0183062 0.0208616 2.89858e-05" />
            <mass value="0.00142203" />
            <inertia ixx="3.14637e-07" ixy="-2.70173e-08" ixz="2.90739e-11" iyy="3.18951e-07" iyz="-3.25215e-10" izz="4.09623e-07" />
        </inertial>
    </link>
    <joint name="joint_thumb_fingertip_main_fpcb" type="fixed">
        <origin rpy="8.63584e-16 -5.01319e-16 5.12794e-18" xyz="0.00776046 -0.01766 0.0135" />
        <parent link="tft_bracket" />
        <child link="thumb_fingertip_main_fpcb" />
        <axis xyz="0 0 1" />
        <limit effort="1" velocity="20" />
        <joint_properties friction="0.0" />
    </joint>
    <link name="thumb_fingertip_side_fpcb">
        <visual>
            <origin rpy="4.39229e-31 9.58935e-32 3.22237e-18" xyz="-0.153816 0.0136001 -0.0162593" />
            <geometry>
                <mesh filename="package://allegro_hand_description/meshes/distal_fpcb_2.stl" />
            </geometry>
            <material name="distal_fpcb_2_material">
                <color rgba="0.972549 0.529412 0.00392157 1.0" />
            </material>
        </visual>
        <collision>
            <origin rpy="4.39229e-31 9.58935e-32 3.22237e-18" xyz="-0.153816 0.0136001 -0.0162593" />
            <geometry>
                <mesh filename="package://allegro_hand_description/meshes/distal_fpcb_2.stl" />
            </geometry>
            <material name="distal_fpcb_2_material">
                <color rgba="0.972549 0.529412 0.00392157 1.0" />
            </material>
        </collision>
        <inertial>
            <origin rpy="0 0 0" xyz="-0.0175916 0.00317983 -0.0164175" />
            <mass value="0.00128609" />
            <inertia ixx="3.5341e-07" ixy="2.54188e-08" ixz="-2.1826e-09" iyy="3.67946e-07" iyz="1.2158e-09" izz="1.99436e-07" />
        </inertial>
    </link>
    <joint name="joint_thumb_fingertip_side_fpcb" type="fixed">
        <origin rpy="-3.14159 -9.5307e-16 5.18075e-18" xyz="0.0399163 0.0096 -0.00275858" />
        <parent link="tft_bracket" />
        <child link="thumb_fingertip_side_fpcb" />
        <axis xyz="0 0 1" />
        <limit effort="1" velocity="20" />
        <joint_properties friction="0.0" />
    </joint>
    <joint name="joint_thumb_fingertip_bracket" type="fixed">
        <origin rpy="3.14159 5.80134e-16 -3.14159" xyz="-0.0291 0.0037 0.0253" />
        <parent link="link_15" />
        <child link="tft_bracket" />
        <axis xyz="0 0 1" />
        <limit effort="1" velocity="20" />
        <joint_properties friction="0.0" />
    </joint>
    <joint name="joint_15_0" type="revolute">
        <origin rpy="-4.53557e-16 3.39461e-16 2.07948e-13" xyz="-0.0514 -9.00668e-15 -0.0001" />
        <parent link="link_14" />
        <child link="link_15" />
        <axis xyz="0 0 1" />
        <limit effort="15" lower="0" upper="1.7" velocity="20" />
        <dynamics damping="1" friction="0.5" />
        <gazebo>
            <implicitSpringDamper>true</implicitSpringDamper>
        </gazebo>
    </joint>
    <!-- *************************************Transmission************************************** -->
    <transmission name="trans_15_0">
        <type>transmission_interface/SimpleTransmission</type>
        <joint name="joint_15_0">
            <hardwareInterface>hardware_interface/EffortJointInterface</hardwareInterface>
        </joint>
        <actuator name="motor_15_0">
            <mechanicalReduction>1</mechanicalReduction>
            <hardwareInterface>hardware_interface/EffortJointInterface</hardwareInterface>
        </actuator>
    </transmission>
    <!-- *************************************Transmission************************************** -->
    <link name="tmb_bracket">
        <visual>
            <origin rpy="1.5708 2.25088e-31 -7.6622e-21" xyz="0.004 0.0329 0.014" />
            <geometry>
                <mesh filename="package://allegro_hand_description/meshes/thumb_medial_back_bracket.stl" />
            </geometry>
            <material name="thumb_medial_back_bracket_material">
                <color rgba="0.917647 0.917647 0.917647 1.0" />
            </material>
        </visual>
        <collision>
            <origin rpy="1.5708 2.25088e-31 -7.6622e-21" xyz="0.004 0.0329 0.014" />
            <geometry>
                <mesh filename="package://allegro_hand_description/meshes/thumb_medial_back_bracket.stl" />
            </geometry>
            <material name="thumb_medial_back_bracket_material">
                <color rgba="0.917647 0.917647 0.917647 1.0" />
            </material>
        </collision>
        <inertial>
            <origin rpy="0 0 0" xyz="-0.00600734 0.00588203 0.0181482" />
            <mass value="0.00473763" />
            <inertia ixx="1.11799e-06" ixy="-2.9649e-08" ixz="1.65587e-07" iyy="9.60308e-07" iyz="-6.32913e-08" izz="7.92445e-07" />
        </inertial>
    </link>
    <link name="thumb_medial_back_fpcb">
        <visual>
            <origin rpy="3.14159 -5.47552e-15 -1.15148e-31" xyz="0.0148 -0.014 0.0052" />
            <geometry>
                <mesh filename="package://allegro_hand_description/meshes/part_5.stl" />
            </geometry>
            <material name="part_5_material">
                <color rgba="0.498039 0.498039 0.498039 1.0" />
            </material>
        </visual>
        <collision>
            <origin rpy="3.14159 -5.47552e-15 -1.15148e-31" xyz="0.0148 -0.014 0.0052" />
            <geometry>
                <mesh filename="package://allegro_hand_description/meshes/part_5.stl" />
            </geometry>
            <material name="part_5_material">
                <color rgba="0.498039 0.498039 0.498039 1.0" />
            </material>
        </collision>
        <inertial>
            <origin rpy="0 0 0" xyz="0.00190074 -0.0175205 -0.0182577" />
            <mass value="0.000612423" />
            <inertia ixx="1.31741e-07" ixy="2.80463e-08" ixz="-2.97582e-10" iyy="9.0628e-08" iyz="-2.06208e-08" izz="1.18557e-07" />
        </inertial>
    </link>
    <joint name="joint_thumb_medial_back_fpcb" type="fixed">
        <origin rpy="-1.5708 7.27098e-31 -7.93211e-15" xyz="-0.0108 0.0277 -2.68882e-17" />
        <parent link="tmb_bracket" />
        <child link="thumb_medial_back_fpcb" />
        <axis xyz="0 0 1" />
        <limit effort="1" velocity="20" />
        <joint_properties friction="0.0" />
    </joint>
    <joint name="joint_thumb_medial_back_bracket" type="fixed">
        <origin rpy="-6.46681e-16 -1.5186e-15 -1.5708" xyz="-0.0249 0.004 -0.0022" />
        <parent link="link_14" />
        <child link="tmb_bracket" />
        <axis xyz="0 0 1" />
        <limit effort="1" velocity="20" />
        <joint_properties friction="0.0" />
    </joint>
    <link name="tmf_bracket">
        <visual>
            <origin rpy="-1.5708 -2.03975e-31 -2.00332e-19" xyz="-0.004 -0.0329 0.014" />
            <geometry>
                <mesh filename="package://allegro_hand_description/meshes/thumb_medial_front_bracket.stl" />
            </geometry>
            <material name="thumb_medial_front_bracket_material">
                <color rgba="0.917647 0.917647 0.917647 1.0" />
            </material>
        </visual>
        <collision>
            <origin rpy="-1.5708 -2.03975e-31 -2.00332e-19" xyz="-0.004 -0.0329 0.014" />
            <geometry>
                <mesh filename="package://allegro_hand_description/meshes/thumb_medial_front_bracket.stl" />
            </geometry>
            <material name="thumb_medial_front_bracket_material">
                <color rgba="0.917647 0.917647 0.917647 1.0" />
            </material>
        </collision>
        <inertial>
            <origin rpy="0 0 0" xyz="0.00534582 -0.00527635 0.0171061" />
            <mass value="0.0040514" />
            <inertia ixx="9.13083e-07" ixy="-5.82508e-09" ixz="-1.21819e-07" iyy="6.82814e-07" iyz="1.23951e-07" izz="5.97236e-07" />
        </inertial>
    </link>
    <link name="thumb_medial_front_fpcb">
        <visual>
            <origin rpy="7.38033e-33 1.42291e-18 -4.44322e-31" xyz="-0.0140023 -0.007 -0.0052" />
            <geometry>
                <mesh filename="package://allegro_hand_description/meshes/part_6.stl" />
            </geometry>
            <material name="part_6_material">
                <color rgba="0.980392 0.713725 0.00392157 1.0" />
            </material>
        </visual>
        <collision>
            <origin rpy="7.38033e-33 1.42291e-18 -4.44322e-31" xyz="-0.0140023 -0.007 -0.0052" />
            <geometry>
                <mesh filename="package://allegro_hand_description/meshes/part_6.stl" />
            </geometry>
            <material name="part_6_material">
                <color rgba="0.980392 0.713725 0.00392157 1.0" />
            </material>
        </collision>
        <inertial>
            <origin rpy="0 0 0" xyz="-0.00221105 -0.0114519 0.0177349" />
            <mass value="0.000462123" />
            <inertia ixx="7.18561e-08" ixy="-1.49488e-08" ixz="-9.74587e-10" iyy="5.37528e-08" iyz="8.76508e-09" izz="5.33116e-08" />
        </inertial>
    </link>
    <joint name="joint_thumb_medial_front_fpcb" type="fixed">
        <origin rpy="-1.5708 -5.1393e-32 5.59764e-15" xyz="0.0100023 -0.0277 0.007" />
        <parent link="tmf_bracket" />
        <child link="thumb_medial_front_fpcb" />
        <axis xyz="0 0 1" />
        <limit effort="1" velocity="20" />
        <joint_properties friction="0.0" />
    </joint>
    <joint name="joint_thumb_medial_front_bracket" type="fixed">
        <origin rpy="3.14159 -7.73741e-17 -1.5708" xyz="-0.0249 -0.004 0.0258" />
        <parent link="link_14" />
        <child link="tmf_bracket" />
        <axis xyz="0 0 1" />
        <limit effort="1" velocity="20" />
        <joint_properties friction="0.0" />
    </joint>
    <joint name="joint_14_0" type="revolute">
        <origin rpy="3.14159 1.5708 0" xyz="0.0119 -1.38778e-17 0.02545" />
        <parent link="link_13" />
        <child link="link_14" />
        <axis xyz="0 0 1" />
        <limit effort="15" lower="0" upper="1.45" velocity="20" />
        <dynamics damping="1" friction="0.5" />
        <gazebo>
            <implicitSpringDamper>true</implicitSpringDamper>
        </gazebo>
    </joint>
    <!-- *************************************Transmission************************************** -->
    <transmission name="trans_14_0">
        <type>transmission_interface/SimpleTransmission</type>
        <joint name="joint_14_0">
            <hardwareInterface>hardware_interface/EffortJointInterface</hardwareInterface>
        </joint>
        <actuator name="motor_14_0">
            <mechanicalReduction>1</mechanicalReduction>
            <hardwareInterface>hardware_interface/EffortJointInterface</hardwareInterface>
        </actuator>
    </transmission>
    <!-- *************************************Transmission************************************** -->
    <joint name="joint_13_0" type="revolute">
        <origin rpy="-1.5708 -3.01469e-15 1.5708" xyz="-0.0375 -0.005 -0.0092" />
        <parent link="link_12" />
        <child link="link_13" />
        <axis xyz="0 0 1" />
        <limit effort="15" lower="-1.3" upper="1.15" velocity="20" />
        <dynamics damping="1" friction="0.5" />
        <gazebo>
            <implicitSpringDamper>true</implicitSpringDamper>
        </gazebo>
    </joint>
    <!-- *************************************Transmission************************************** -->
    <transmission name="trans_13_0">
        <type>transmission_interface/SimpleTransmission</type>
        <joint name="joint_13_0">
            <hardwareInterface>hardware_interface/EffortJointInterface</hardwareInterface>
        </joint>
        <actuator name="motor_13_0">
            <mechanicalReduction>1</mechanicalReduction>
            <hardwareInterface>hardware_interface/EffortJointInterface</hardwareInterface>
        </actuator>
    </transmission>
    <!-- *************************************Transmission************************************** -->
    <joint name="joint_12_0" type="revolute">
        <origin rpy="-3.14159 -0.0872665 1.84398e-16" xyz="-0.0161208 0.0158 -0.0848515" />
        <parent link="palm_link" />
        <child link="link_12" />
        <axis xyz="0 0 1" />
        <limit effort="15" lower="0.35" upper="1.57" velocity="20" />
        <dynamics damping="1" friction="0.5" />
        <gazebo>
            <implicitSpringDamper>true</implicitSpringDamper>
        </gazebo>
    </joint>
    <!-- *************************************Transmission************************************** -->
    <transmission name="trans_12_0">
        <type>transmission_interface/SimpleTransmission</type>
        <joint name="joint_12_0">
            <hardwareInterface>hardware_interface/EffortJointInterface</hardwareInterface>
        </joint>
        <actuator name="motor_12_0">
            <mechanicalReduction>1</mechanicalReduction>
            <hardwareInterface>hardware_interface/EffortJointInterface</hardwareInterface>
        </actuator>
    </transmission>
    <!-- *************************************Transmission************************************** -->
    <link name="boh_bracket">
        <visual>
            <origin rpy="-1.5708 -1.5708 0" xyz="0.02 0.007 0.0435" />
            <geometry>
                <mesh filename="package://allegro_hand_description/meshes/part_4.stl" />
            </geometry>
            <material name="part_4_material">
                <color rgba="0.980392 0.713725 0.00392157 1.0" />
            </material>
        </visual>
        <collision>
            <origin rpy="-1.5708 -1.5708 0" xyz="0.02 0.007 0.0435" />
            <geometry>
                <mesh filename="package://allegro_hand_description/meshes/part_4.stl" />
            </geometry>
            <material name="part_4_material">
                <color rgba="0.980392 0.713725 0.00392157 1.0" />
            </material>
        </collision>
        <inertial>
            <origin rpy="0 0 0" xyz="0.0205425 -0.0333769 -0.00325" />
            <mass value="0.0385521" />
            <inertia ixx="5.89511e-05" ixy="3.11147e-09" ixz="-3.78027e-07" iyy="9.09733e-05" iyz="4.84151e-09" izz="3.60656e-05" />
        </inertial>
    </link>
    <link name="boh">
        <visual>
            <origin rpy="-1.5708 -1.5708 0" xyz="3.94708e-06 0.038896 0.0528" />
            <geometry>
                <mesh filename="package://allegro_hand_description/meshes/boh_fpcb.stl" />
            </geometry>
            <material name="boh_fpcb_material">
                <color rgba="0.615686 0.811765 0.929412 1.0" />
            </material>
        </visual>
        <collision>
            <origin rpy="-1.5708 -1.5708 0" xyz="3.94708e-06 0.038896 0.0528" />
            <geometry>
                <mesh filename="package://allegro_hand_description/meshes/boh_fpcb.stl" />
            </geometry>
            <material name="boh_fpcb_material">
                <color rgba="0.615686 0.811765 0.929412 1.0" />
            </material>
        </collision>
        <inertial>
            <origin rpy="0 0 0" xyz="3.00678e-07 -0.00328019 -3.42586e-05" />
            <mass value="0.00784811" />
            <inertia ixx="7.95811e-06" ixy="6.60039e-08" ixz="1.42447e-09" iyy="1.30113e-05" iyz="-6.22082e-12" izz="5.06377e-06" />
        </inertial>
    </link>
    <joint name="joint_boh" type="fixed">
        <origin rpy="0 -0 0" xyz="0.019996 -0.0318962 -0.0093" />
        <parent link="boh_bracket" />
        <child link="boh" />
        <axis xyz="0 0 1" />
        <limit effort="1" velocity="20" />
        <joint_properties friction="0.0" />
    </joint>
    <joint name="joint_boh_bracket" type="fixed">
        <origin rpy="1.5708 -0 3.14159" xyz="0.02 -0.0094 -0.009" />
        <parent link="palm_link" />
        <child link="boh_bracket" />
        <axis xyz="0 0 1" />
        <limit effort="1" velocity="20" />
        <joint_properties friction="0.0" />
    </joint>
    <link name="palm_bracket">
        <visual>
            <origin rpy="1.5708 1.5708 0" xyz="-0.000254584 -0.095 0.0113" />
            <geometry>
                <mesh filename="package://allegro_hand_description/meshes/palm_bracket.stl" />
            </geometry>
            <material name="palm_bracket_material">
                <color rgba="0.231373 0.380392 0.705882 1.0" />
            </material>
        </visual>
        <collision>
            <origin rpy="1.5708 1.5708 0" xyz="-0.000254584 -0.095 0.0113" />
            <geometry>
                <mesh filename="package://allegro_hand_description/meshes/palm_bracket.stl" />
            </geometry>
            <material name="palm_bracket_material">
                <color rgba="0.231373 0.380392 0.705882 1.0" />
            </material>
        </collision>
        <inertial>
            <origin rpy="0 0 0" xyz="-0.0117692 -0.0440058 -0.00328358" />
            <mass value="0.0366468" />
            <inertia ixx="3.0726e-05" ixy="3.33674e-07" ixz="-2.90867e-06" iyy="5.36054e-05" iyz="1.29147e-07" izz="2.31158e-05" />
        </inertial>
    </link>
    <link name="palm_fpcb">
        <visual>
            <origin rpy="1.5708 1.5708 0" xyz="0.02 -0.007 0.0173" />
            <geometry>
                <mesh filename="package://allegro_hand_description/meshes/palm_fpcb.stl" />
            </geometry>
            <material name="palm_fpcb_material">
                <color rgba="0.972549 0.529412 0.00392157 1.0" />
            </material>
        </visual>
        <collision>
            <origin rpy="1.5708 1.5708 0" xyz="0.02 -0.007 0.0173" />
            <geometry>
                <mesh filename="package://allegro_hand_description/meshes/palm_fpcb.stl" />
            </geometry>
            <material name="palm_fpcb_material">
                <color rgba="0.972549 0.529412 0.00392157 1.0" />
            </material>
        </collision>
        <inertial>
            <origin rpy="0 0 0" xyz="0.0127906 0.0241481 0.000227194" />
            <mass value="0.00098458" />
            <inertia ixx="7.85784e-07" ixy="-7.28774e-09" ixz="-1.89434e-07" iyy="1.25428e-06" iyz="-2.66202e-09" izz="4.70119e-07" />
        </inertial>
    </link>
    <joint name="joint_palm_fpcb" type="fixed">
        <origin rpy="0 -0 0" xyz="-0.0202546 -0.088 -0.006" />
        <parent link="palm_bracket" />
        <child link="palm_fpcb" />
        <axis xyz="0 0 1" />
        <limit effort="1" velocity="20" />
        <joint_properties friction="0.0" />
    </joint>
    <joint name="joint_palm_bracket" type="fixed">
        <origin rpy="-1.5708 -0 3.14159" xyz="-0.000254584 0.0453 -0.097" />
        <parent link="palm_link" />
        <child link="palm_bracket" />
        <axis xyz="0 0 1" />
        <limit effort="1" velocity="20" />
        <joint_properties friction="0.0" />
    </joint>
    <link name="tcp" />
    <joint name="tcp_to_gripper" type="fixed">
        <parent link="tool0" />
        <child link="tcp" />
        <origin rpy="0 0 0" xyz="0 0 0.165" />
    </joint>
    <!-- OBJECT TO GRASP -->
    <link name="cubic_object_link">
        <visual>
            <origin rpy="0 -0 1.5708" xyz="0 0 0" />
            <geometry>
                <mesh filename="package://coro_descriptions/meshes/cubic_object.stl" />
            </geometry>
            <material name="link_testing_cube_material">
                <color rgba="0.615686 0.811765 0.929412 1.0" />
            </material>
        </visual>
        <collision>
            <origin rpy="0 -0 1.5708" xyz="0 0 0" />
            <geometry>
                <mesh filename="package://coro_descriptions/meshes/cubic_object.stl" />
            </geometry>
            <material name="link_testing_cube_material">
                <color rgba="0.615686 0.811765 0.929412 1.0" />
            </material>
        </collision>
        <inertial>
            <origin rpy="0 0 0" xyz="-1.02566e-17 9.23364e-19 0.1075" />
            <mass value="0.0770781" />
            <inertia ixx="0.000307188" ixy="0" ixz="0" iyy="0.000307188" iyz="0" izz="2.05542e-05" />
        </inertial>
    </link>
    <joint name="object_to_table" type="fixed">
        <origin rpy="0 0 0" xyz="0.004217 -0.201201 0.951750" />
        <parent link="table_base" />
        <child link="cubic_object_link" />
    </joint>
    <!-- GAZEBO -->
    <gazebo>
        <plugin filename="libgazebo_ros_control.so" name="gazebo_ros_control">
            <robotNamespace>/</robotNamespace>
            <robotSimType>gazebo_ros_control/DefaultRobotHWSim</robotSimType>
        </plugin>
    </gazebo>
</robot>
